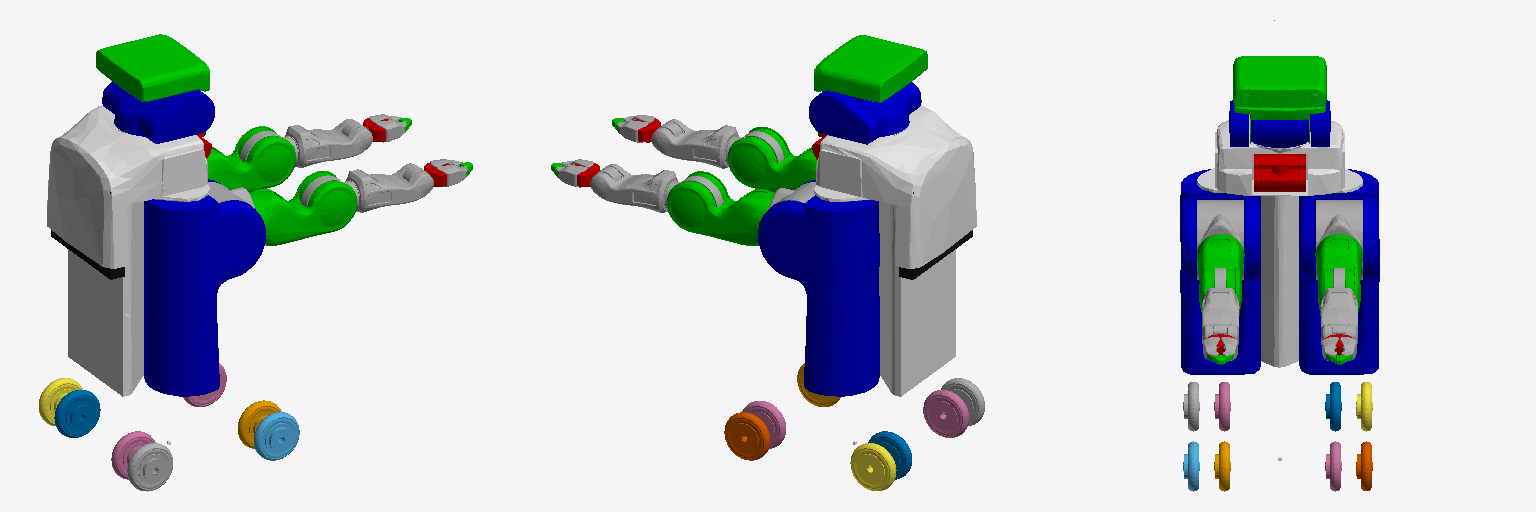
--- Facts derived from the render (not from the file) ---
Views: 3 orthographic renders of the robot side by side, from view 1: azimuth 30°, elevation 25°; view 2: azimuth 150°, elevation 25°; view 3: azimuth 270°, elevation 25°.
Model pr2 with 95 links and 94 joints (21 revolute, 19 continuous, 5 prismatic, 49 fixed), rooted at base_footprint, posed all joints at 0.
Links seen in each view (by area): view 1: torso_lift_link, r_shoulder_pan_link, head_tilt_link, r_upper_arm_link, head_pan_link, l_upper_arm_link, l_forearm_link, r_forearm_link, fr_caster_r_wheel_link, br_caster_r_wheel_link, bl_caster_r_wheel_link, bl_caster_l_wheel_link (+5 smaller); view 2: torso_lift_link, l_shoulder_pan_link, head_tilt_link, l_upper_arm_link, head_pan_link, r_upper_arm_link, l_forearm_link, r_forearm_link, fl_caster_l_wheel_link, br_caster_l_wheel_link, bl_caster_l_wheel_link, br_caster_r_wheel_link (+5 smaller); view 3: torso_lift_link, r_shoulder_pan_link, l_shoulder_pan_link, head_tilt_link, head_pan_link, r_upper_arm_link, l_upper_arm_link, laser_tilt_mount_link, l_shoulder_lift_link, r_shoulder_lift_link, l_forearm_link, r_forearm_link (+8 smaller).
Boxes of the visible links, box(x1,y1,x2,y2) form: torso_lift_link: box(47, 105, 209, 396); r_shoulder_pan_link: box(144, 179, 265, 396); head_tilt_link: box(96, 34, 209, 101); r_upper_arm_link: box(249, 171, 356, 245); head_pan_link: box(102, 81, 214, 143); l_upper_arm_link: box(207, 126, 295, 191); l_forearm_link: box(285, 119, 372, 167); r_forearm_link: box(346, 163, 433, 212); fr_caster_r_wheel_link: box(254, 412, 299, 460); br_caster_r_wheel_link: box(127, 443, 172, 491); bl_caster_r_wheel_link: box(54, 390, 100, 437); bl_caster_l_wheel_link: box(39, 378, 82, 425); torso_lift_link: box(814, 105, 976, 396); l_shoulder_pan_link: box(758, 180, 879, 396); head_tilt_link: box(814, 35, 927, 102); l_upper_arm_link: box(667, 171, 774, 245); head_pan_link: box(809, 82, 921, 144); r_upper_arm_link: box(728, 127, 816, 192); l_forearm_link: box(590, 164, 677, 212); r_forearm_link: box(651, 119, 738, 168); fl_caster_l_wheel_link: box(724, 412, 769, 460); br_caster_l_wheel_link: box(923, 390, 968, 437); bl_caster_l_wheel_link: box(850, 443, 896, 490); br_caster_r_wheel_link: box(941, 378, 984, 425); torso_lift_link: box(1197, 114, 1362, 367); r_shoulder_pan_link: box(1180, 169, 1260, 374); l_shoulder_pan_link: box(1299, 169, 1379, 374); head_tilt_link: box(1233, 56, 1326, 143); head_pan_link: box(1229, 100, 1330, 147); r_upper_arm_link: box(1197, 234, 1244, 315); l_upper_arm_link: box(1315, 234, 1362, 315); laser_tilt_mount_link: box(1254, 154, 1305, 191); l_shoulder_lift_link: box(1316, 200, 1362, 279); r_shoulder_lift_link: box(1197, 200, 1243, 279); l_forearm_link: box(1320, 288, 1357, 344); r_forearm_link: box(1202, 288, 1239, 344).
Bounding box of the posed robot: 1.31 × 0.6303 × 1.47 m (x, y, z).
Meshes: 20 distinct files referenced, 34 mesh visuals loaded (14 Collada DAE); not drawn: 12 (reference not matched to a file when rendering).

URDF robot description (pr2):
<?xml version="1.0" ?>
<!-- =================================================================================== -->
<!-- |    This document was autogenerated by xacro from pr2.urdf.xacro                 | -->
<!-- |    EDITING THIS FILE BY HAND IS NOT RECOMMENDED                                 | -->
<!-- =================================================================================== -->
<robot name="pr2" xmlns:controller="http://playerstage.sourceforge.net/gazebo/xmlschema/#controller" xmlns:interface="http://playerstage.sourceforge.net/gazebo/xmlschema/#interface" xmlns:joint="http://playerstage.sourceforge.net/gazebo/xmlschema/#slider" xmlns:sensor="http://playerstage.sourceforge.net/gazebo/xmlschema/#sensor" xmlns:xacro="http://ros.org/wiki/xacro">
  <!-- The following included files set up definitions of parts of the robot body -->
  <!-- misc common stuff? -->
  <!-- PR2 Arm -->
  <!-- PR2 gripper -->
  <!-- PR2 head -->
  <!-- PR2 tilting laser mount -->
  <!-- PR2 torso -->
  <!-- PR2 base -->
  <!-- Head sensors -->
  <!-- Camera sensors -->
  <!-- Texture projector -->
  <!-- generic simulator_gazebo plugins for starting mechanism control, ros time, ros battery -->
  <gazebo>
    <plugin filename="libgazebo_ros_controller_manager.so" name="gazebo_ros_controller_manager">
      <alwaysOn>true</alwaysOn>
      <updateRate>1000.0</updateRate>
    </plugin>
    <plugin filename="libgazebo_ros_power_monitor.so" name="gazebo_ros_power_monitor_controller">
      <alwaysOn>true</alwaysOn>
      <updateRate>1.0</updateRate>
      <timeout>5</timeout>
      <powerStateTopic>power_state</powerStateTopic>
      <powerStateRate>10.0</powerStateRate>
      <fullChargeCapacity>87.78</fullChargeCapacity>
      <dischargeRate>-474</dischargeRate>
      <chargeRate>525</chargeRate>
      <dischargeVoltage>15.52</dischargeVoltage>
      <chargeVoltage>16.41</chargeVoltage>
    </plugin>
  </gazebo>
  <!-- materials for visualization -->
  <material name="Blue">
    <color rgba="0.0 0.0 0.8 1.0"/>
  </material>
  <material name="Green">
    <color rgba="0.0 0.8 0.0 1.0"/>
  </material>
  <material name="Grey">
    <color rgba="0.7 0.7 0.7 1.0"/>
  </material>
  <material name="Grey2">
    <color rgba="0.9 0.9 0.9 1.0"/>
  </material>
  <material name="Red">
    <color rgba="0.8 0.0 0.0 1.0"/>
  </material>
  <material name="White">
    <color rgba="1.0 1.0 1.0 1.0"/>
  </material>
  <material name="Black">
    <color rgba="0.1 0.1 0.1 1.0"/>
  </material>
  <material name="LightGrey">
    <color rgba="0.6 0.6 0.6 1.0"/>
  </material>
  <material name="Caster">
    <texture filename="package://pr2_description/materials/textures/pr2_caster_texture.png"/>
  </material>
  <material name="Wheel_l">
    <texture filename="package://pr2_description/materials/textures/pr2_wheel_left.png"/>
  </material>
  <material name="Wheel_r">
    <texture filename="package://pr2_description/materials/textures/pr2_wheel_right.png"/>
  </material>
  <material name="RollLinks">
    <texture filename="package://pr2_description/materials/textures/pr2_wheel_left.png"/>
  </material>
  <!-- Now we can start using the macros included above to define the actual PR2 -->
  <!-- The first use of a macro.  This one was defined in base.urdf.xacro above.
       A macro like this will expand to a set of link and joint definitions, and to additional
       Gazebo-related extensions (sensor plugins, etc).  The macro takes an argument, name, 
       that equals "base", and uses it to generate names for its component links and joints 
       (e.g., base_link).  The included origin block is also an argument to the macro.  By convention, 
       the origin block defines where the component is w.r.t its parent (in this case the parent 
       is the world frame). For more, see http://www.ros.org/wiki/xacro -->
  <link name="base_link">
    <inertial>
      <mass value="116.0"/>
      <origin xyz="-0.061 0.0 0.1465"/>
      <inertia ixx="5.652232699207" ixy="-0.009719934438" ixz="1.293988226423" iyy="5.669473158652" iyz="-0.007379583694" izz="3.683196351726"/>
    </inertial>
    <visual>
      <origin rpy="0 0 0" xyz="0 0 0"/>
      <geometry>
        <mesh filename="package://pr2_description/meshes/base_v0/base.dae"/>
      </geometry>
      <material name="White"/>
    </visual>
    <collision>
      <origin rpy="0 0 0" xyz="0 0 0"/>
      <geometry>
        <mesh filename="package://pr2_description/meshes/base_v0/base_L.stl"/>
      </geometry>
    </collision>
  </link>
  <link name="base_footprint">
    <inertial>
      <mass value="1.0"/>
      <origin xyz="0 0 0"/>
      <inertia ixx="0.01" ixy="0.0" ixz="0.0" iyy="0.01" iyz="0.0" izz="0.01"/>
    </inertial>
    <visual>
      <origin rpy="0 0 0" xyz="0 0 0"/>
      <geometry>
        <box size="0.01 0.01 0.01"/>
      </geometry>
      <material name="White"/>
    </visual>
    <collision>
      <!-- represent base collision with a simple rectangular model, positioned by base_size_z s.t. top
             surface of the collision box matches the top surface of the PR2 base -->
      <origin rpy="0 0 0" xyz="0 0 0.071"/>
      <geometry>
        <box size="0.001 0.001 0.001"/>
      </geometry>
    </collision>
  </link>
  <joint name="base_footprint_joint" type="fixed">
    <origin rpy="0 0 0" xyz="0 0 0.051"/>
    <child link="base_link"/>
    <parent link="base_footprint"/>
  </joint>
  <link name="base_bellow_link">
    <inertial>
      <mass value="1.0"/>
      <origin xyz="0 0 0"/>
      <inertia ixx="0.01" ixy="0.0" ixz="0.0" iyy="0.01" iyz="0.0" izz="0.01"/>
    </inertial>
    <visual>
      <origin rpy="0 0 0" xyz="0 0 0"/>
      <geometry>
        <box size="0.05 0.37 0.3"/>
      </geometry>
      <material name="Black"/>
    </visual>
    <collision>
      <origin rpy="0 0 0" xyz="0 0 0"/>
      <geometry>
        <box size="0.05 0.37 0.3"/>
      </geometry>
    </collision>
  </link>
  <joint name="base_bellow_joint" type="fixed">
    <origin rpy="0 0 0" xyz="-0.29 0 0.8"/>
    <parent link="base_link"/>
    <child link="base_bellow_link"/>
  </joint>
  <joint name="base_laser_joint" type="fixed">
    <axis xyz="0 1 0"/>
    <origin rpy="0 0 0" xyz="0.275 0.0 0.252"/>
    <parent link="base_link"/>
    <child link="base_laser_link"/>
  </joint>
  <link name="base_laser_link" type="laser">
    <inertial>
      <mass value="0.001"/>
      <origin rpy="0 0 0" xyz="0 0 0"/>
      <inertia ixx="0.0001" ixy="0" ixz="0" iyy="0.000001" iyz="0" izz="0.0001"/>
    </inertial>
  </link>
  <gazebo reference="base_laser_link">
    <sensor name="base_laser" type="ray">
      <always_on>true</always_on>
      <update_rate>20</update_rate>
      <pose>0 0 0 0 0 0</pose>
      <visualize>false</visualize>
      <ray>
        <scan>
          <horizontal>
            <samples>640</samples>
            <resolution>1</resolution>
            <min_angle>-2.2689</min_angle>
            <max_angle>2.2689</max_angle>
          </horizontal>
        </scan>
        <range>
          <min>0.08</min>
          <max>10.0</max>
          <resolution>0.01</resolution>
        </range>
      </ray>
      <plugin filename="libgazebo_ros_laser.so" name="gazebo_ros_base_laser_controller">
        <gaussianNoise>0.005</gaussianNoise>
        <alwaysOn>true</alwaysOn>
        <updateRate>20</updateRate>
        <topicName>base_scan</topicName>
        <frameName>base_laser_link</frameName>
      </plugin>
    </sensor>
  </gazebo>
  <joint name="fl_caster_rotation_joint" type="continuous">
    <axis xyz="0 0 1"/>
    <limit effort="6.5" velocity="10"/>
    <!-- alpha tested velocity and effort limits -->
    <safety_controller k_velocity="10"/>
    <calibration rising="-0.785398163397"/>
    <dynamics damping="1.0" friction="0.0"/>
    <origin rpy="0 0 0" xyz="0.2246 0.2246 0.0282"/>
    <parent link="base_link"/>
    <child link="fl_caster_rotation_link"/>
  </joint>
  <link name="fl_caster_rotation_link">
    <inertial>
      <mass value="3.473082"/>
      <origin xyz="0 0 0.07"/>
      <inertia ixx="0.012411765597" ixy="-0.000711733678" ixz="0.00050272983" iyy="0.015218160428" iyz="-0.000004273467" izz="0.011763977943"/>
    </inertial>
    <visual>
      <origin rpy="0 0 0" xyz="0 0 0"/>
      <geometry>
        <mesh filename="package://pr2_description/meshes/base_v0/caster.stl"/>
      </geometry>
      <material name="Caster"/>
    </visual>
    <collision>
      <origin rpy="0 0 0" xyz="0 0 0"/>
      <geometry>
        <mesh filename="package://pr2_description/meshes/base_v0/caster_L.stl"/>
      </geometry>
    </collision>
  </link>
  <transmission name="fl_caster_rotation_trans" type="pr2_mechanism_model/SimpleTransmission">
    <actuator name="fl_caster_rotation_motor"/>
    <joint name="fl_caster_rotation_joint"/>
    <mechanicalReduction>-79.2380952381</mechanicalReduction>
  </transmission>
  <joint name="fl_caster_l_wheel_joint" type="continuous">
    <axis xyz="0 1 0"/>
    <limit effort="7" velocity="15"/>
    <!-- alpha tested effort and velocity limits -->
    <safety_controller k_velocity="10"/>
    <dynamics damping="1.0" friction="0.0"/>
    <origin rpy="0 0 0" xyz="0 0.049 0"/>
    <parent link="fl_caster_rotation_link"/>
    <child link="fl_caster_l_wheel_link"/>
  </joint>
  <link name="fl_caster_l_wheel_link">
    <inertial>
      <mass value="0.44036"/>
      <origin xyz="0 0 0"/>
      <inertia ixx="0.012411765597" ixy="-0.000711733678" ixz="0.00050272983" iyy="0.015218160428" iyz="-0.000004273467" izz="0.011763977943"/>
    </inertial>
    <visual>
      <origin rpy="0 0 0" xyz="0 0 0"/>
      <geometry>
        <mesh filename="package://pr2_description/meshes/base_v0/wheel.dae"/>
      </geometry>
      <material name="Wheel_l"/>
    </visual>
    <collision>
      <origin rpy="1.57079632679 0 0" xyz="0 0 0"/>
      <!-- rotation because cyl. geom primitive has symmetry axis in +x direction -->
      <geometry>
        <cylinder length="0.034" radius="0.074792"/>
      </geometry>
    </collision>
  </link>
  <gazebo reference="fl_caster_l_wheel_link">
    <mu1 value="100.0"/>
    <mu2 value="100.0"/>
    <kp value="1000000.0"/>
    <kd value="1.0"/>
    <maxVel value="100.0"/>
    <minDepth value="0.0"/>
  </gazebo>
  <transmission name="fl_caster_l_wheel_trans" type="pr2_mechanism_model/SimpleTransmission">
    <actuator name="fl_caster_l_wheel_motor"/>
    <joint name="fl_caster_l_wheel_joint"/>
    <mechanicalReduction>79.2380952381</mechanicalReduction>
  </transmission>
  <joint name="fl_caster_r_wheel_joint" type="continuous">
    <axis xyz="0 1 0"/>
    <limit effort="7" velocity="15"/>
    <!-- alpha tested effort and velocity limits -->
    <safety_controller k_velocity="10"/>
    <dynamics damping="1.0" friction="0.0"/>
    <origin rpy="0 0 0" xyz="0 -0.049 0"/>
    <parent link="fl_caster_rotation_link"/>
    <child link="fl_caster_r_wheel_link"/>
  </joint>
  <link name="fl_caster_r_wheel_link">
    <inertial>
      <mass value="0.44036"/>
      <origin xyz="0 0 0"/>
      <inertia ixx="0.012411765597" ixy="-0.000711733678" ixz="0.00050272983" iyy="0.015218160428" iyz="-0.000004273467" izz="0.011763977943"/>
    </inertial>
    <visual>
      <origin rpy="0 0 0" xyz="0 0 0"/>
      <geometry>
        <mesh filename="package://pr2_description/meshes/base_v0/wheel.dae"/>
      </geometry>
      <material name="Wheel_r"/>
    </visual>
    <collision>
      <origin rpy="1.57079632679 0 0" xyz="0 0 0"/>
      <!-- rotation because cyl. geom primitive has symmetry axis in +x direction -->
      <geometry>
        <cylinder length="0.034" radius="0.074792"/>
      </geometry>
    </collision>
  </link>
  <gazebo reference="fl_caster_r_wheel_link">
    <mu1 value="100.0"/>
    <mu2 value="100.0"/>
    <kp value="1000000.0"/>
    <kd value="1.0"/>
    <maxVel value="100.0"/>
    <minDepth value="0.0"/>
  </gazebo>
  <transmission name="fl_caster_r_wheel_trans" type="pr2_mechanism_model/SimpleTransmission">
    <actuator name="fl_caster_r_wheel_motor"/>
    <joint name="fl_caster_r_wheel_joint"/>
    <mechanicalReduction>-79.2380952381</mechanicalReduction>
  </transmission>
  <gazebo reference="fl_caster_rotation_link">
    <material value="PR2/caster_texture"/>
  </gazebo>
  <joint name="fr_caster_rotation_joint" type="continuous">
    <axis xyz="0 0 1"/>
    <limit effort="6.5" velocity="10"/>
    <!-- alpha tested velocity and effort limits -->
    <safety_controller k_velocity="10"/>
    <calibration rising="-0.785398163397"/>
    <dynamics damping="1.0" friction="0.0"/>
    <origin rpy="0 0 0" xyz="0.2246 -0.2246 0.0282"/>
    <parent link="base_link"/>
    <child link="fr_caster_rotation_link"/>
  </joint>
  <link name="fr_caster_rotation_link">
    <inertial>
      <mass value="3.473082"/>
      <origin xyz="0 0 0.07"/>
      <inertia ixx="0.012411765597" ixy="-0.000711733678" ixz="0.00050272983" iyy="0.015218160428" iyz="-0.000004273467" izz="0.011763977943"/>
    </inertial>
    <visual>
      <origin rpy="0 0 0" xyz="0 0 0"/>
      <geometry>
        <mesh filename="package://pr2_description/meshes/base_v0/caster.stl"/>
      </geometry>
      <material name="Caster"/>
    </visual>
    <collision>
      <origin rpy="0 0 0" xyz="0 0 0"/>
      <geometry>
        <mesh filename="package://pr2_description/meshes/base_v0/caster_L.stl"/>
      </geometry>
    </collision>
  </link>
  <transmission name="fr_caster_rotation_trans" type="pr2_mechanism_model/SimpleTransmission">
    <actuator name="fr_caster_rotation_motor"/>
    <joint name="fr_caster_rotation_joint"/>
    <mechanicalReduction>-79.2380952381</mechanicalReduction>
  </transmission>
  <joint name="fr_caster_l_wheel_joint" type="continuous">
    <axis xyz="0 1 0"/>
    <limit effort="7" velocity="15"/>
    <!-- alpha tested effort and velocity limits -->
    <safety_controller k_velocity="10"/>
    <dynamics damping="1.0" friction="0.0"/>
    <origin rpy="0 0 0" xyz="0 0.049 0"/>
    <parent link="fr_caster_rotation_link"/>
    <child link="fr_caster_l_wheel_link"/>
  </joint>
  <link name="fr_caster_l_wheel_link">
    <inertial>
      <mass value="0.44036"/>
      <origin xyz="0 0 0"/>
      <inertia ixx="0.012411765597" ixy="-0.000711733678" ixz="0.00050272983" iyy="0.015218160428" iyz="-0.000004273467" izz="0.011763977943"/>
    </inertial>
    <visual>
      <origin rpy="0 0 0" xyz="0 0 0"/>
      <geometry>
        <mesh filename="package://pr2_description/meshes/base_v0/wheel.dae"/>
      </geometry>
      <material name="Wheel_l"/>
    </visual>
    <collision>
      <origin rpy="1.57079632679 0 0" xyz="0 0 0"/>
      <!-- rotation because cyl. geom primitive has symmetry axis in +x direction -->
      <geometry>
        <cylinder length="0.034" radius="0.074792"/>
      </geometry>
    </collision>
  </link>
  <gazebo reference="fr_caster_l_wheel_link">
    <mu1 value="100.0"/>
    <mu2 value="100.0"/>
    <kp value="1000000.0"/>
    <kd value="1.0"/>
    <maxVel value="100.0"/>
    <minDepth value="0.0"/>
  </gazebo>
  <transmission name="fr_caster_l_wheel_trans" type="pr2_mechanism_model/SimpleTransmission">
    <actuator name="fr_caster_l_wheel_motor"/>
    <joint name="fr_caster_l_wheel_joint"/>
    <mechanicalReduction>79.2380952381</mechanicalReduction>
  </transmission>
  <joint name="fr_caster_r_wheel_joint" type="continuous">
    <axis xyz="0 1 0"/>
    <limit effort="7" velocity="15"/>
    <!-- alpha tested effort and velocity limits -->
    <safety_controller k_velocity="10"/>
    <dynamics damping="1.0" friction="0.0"/>
    <origin rpy="0 0 0" xyz="0 -0.049 0"/>
    <parent link="fr_caster_rotation_link"/>
    <child link="fr_caster_r_wheel_link"/>
  </joint>
  <link name="fr_caster_r_wheel_link">
    <inertial>
      <mass value="0.44036"/>
      <origin xyz="0 0 0"/>
      <inertia ixx="0.012411765597" ixy="-0.000711733678" ixz="0.00050272983" iyy="0.015218160428" iyz="-0.000004273467" izz="0.011763977943"/>
    </inertial>
    <visual>
      <origin rpy="0 0 0" xyz="0 0 0"/>
      <geometry>
        <mesh filename="package://pr2_description/meshes/base_v0/wheel.dae"/>
      </geometry>
      <material name="Wheel_r"/>
    </visual>
    <collision>
      <origin rpy="1.57079632679 0 0" xyz="0 0 0"/>
      <!-- rotation because cyl. geom primitive has symmetry axis in +x direction -->
      <geometry>
        <cylinder length="0.034" radius="0.074792"/>
      </geometry>
    </collision>
  </link>
  <gazebo reference="fr_caster_r_wheel_link">
    <mu1 value="100.0"/>
    <mu2 value="100.0"/>
    <kp value="1000000.0"/>
    <kd value="1.0"/>
    <maxVel value="100.0"/>
    <minDepth value="0.0"/>
  </gazebo>
  <transmission name="fr_caster_r_wheel_trans" type="pr2_mechanism_model/SimpleTransmission">
    <actuator name="fr_caster_r_wheel_motor"/>
    <joint name="fr_caster_r_wheel_joint"/>
    <mechanicalReduction>-79.2380952381</mechanicalReduction>
  </transmission>
  <gazebo reference="fr_caster_rotation_link">
    <material value="PR2/caster_texture"/>
  </gazebo>
  <joint name="bl_caster_rotation_joint" type="continuous">
    <axis xyz="0 0 1"/>
    <limit effort="6.5" velocity="10"/>
    <!-- alpha tested velocity and effort limits -->
    <safety_controller k_velocity="10"/>
    <calibration rising="2.35619449019"/>
    <dynamics damping="1.0" friction="0.0"/>
    <origin rpy="0 0 0" xyz="-0.2246 0.2246 0.0282"/>
    <parent link="base_link"/>
    <child link="bl_caster_rotation_link"/>
  </joint>
  <link name="bl_caster_rotation_link">
    <inertial>
      <mass value="3.473082"/>
      <origin xyz="0 0 0.07"/>
      <inertia ixx="0.012411765597" ixy="-0.000711733678" ixz="0.00050272983" iyy="0.015218160428" iyz="-0.000004273467" izz="0.011763977943"/>
    </inertial>
    <visual>
      <origin rpy="0 0 0" xyz="0 0 0"/>
      <geometry>
        <mesh filename="package://pr2_description/meshes/base_v0/caster.stl"/>
      </geometry>
      <material name="Caster"/>
    </visual>
    <collision>
      <origin rpy="0 0 0" xyz="0 0 0"/>
      <geometry>
        <mesh filename="package://pr2_description/meshes/base_v0/caster_L.stl"/>
      </geometry>
    </collision>
  </link>
  <transmission name="bl_caster_rotation_trans" type="pr2_mechanism_model/SimpleTransmission">
    <actuator name="bl_caster_rotation_motor"/>
    <joint name="bl_caster_rotation_joint"/>
    <mechanicalReduction>-79.2380952381</mechanicalReduction>
  </transmission>
  <joint name="bl_caster_l_wheel_joint" type="continuous">
    <axis xyz="0 1 0"/>
    <limit effort="7" velocity="15"/>
    <!-- alpha tested effort and velocity limits -->
    <safety_controller k_velocity="10"/>
    <dynamics damping="1.0" friction="0.0"/>
    <origin rpy="0 0 0" xyz="0 0.049 0"/>
    <parent link="bl_caster_rotation_link"/>
    <child link="bl_caster_l_wheel_link"/>
  </joint>
  <link name="bl_caster_l_wheel_link">
    <inertial>
      <mass value="0.44036"/>
      <origin xyz="0 0 0"/>
      <inertia ixx="0.012411765597" ixy="-0.000711733678" ixz="0.00050272983" iyy="0.015218160428" iyz="-0.000004273467" izz="0.011763977943"/>
    </inertial>
    <visual>
      <origin rpy="0 0 0" xyz="0 0 0"/>
      <geometry>
        <mesh filename="package://pr2_description/meshes/base_v0/wheel.dae"/>
      </geometry>
      <material name="Wheel_l"/>
    </visual>
    <collision>
      <origin rpy="1.57079632679 0 0" xyz="0 0 0"/>
      <!-- rotation because cyl. geom primitive has symmetry axis in +x direction -->
      <geometry>
        <cylinder length="0.034" radius="0.074792"/>
      </geometry>
    </collision>
  </link>
  <gazebo reference="bl_caster_l_wheel_link">
    <mu1 value="100.0"/>
    <mu2 value="100.0"/>
    <kp value="1000000.0"/>
    <kd value="1.0"/>
    <maxVel value="100.0"/>
    <minDepth value="0.0"/>
  </gazebo>
  <transmission name="bl_caster_l_wheel_trans" type="pr2_mechanism_model/SimpleTransmission">
    <actuator name="bl_caster_l_wheel_motor"/>
    <joint name="bl_caster_l_wheel_joint"/>
    <mechanicalReduction>79.2380952381</mechanicalReduction>
  </transmission>
  <joint name="bl_caster_r_wheel_joint" type="continuous">
    <axis xyz="0 1 0"/>
    <limit effort="7" velocity="15"/>
    <!-- alpha tested effort and velocity limits -->
    <safety_controller k_velocity="10"/>
    <dynamics damping="1.0" friction="0.0"/>
    <origin rpy="0 0 0" xyz="0 -0.049 0"/>
    <parent link="bl_caster_rotation_link"/>
    <child link="bl_caster_r_wheel_link"/>
  </joint>
  <link name="bl_caster_r_wheel_link">
    <inertial>
      <mass value="0.44036"/>
      <origin xyz="0 0 0"/>
      <inertia ixx="0.012411765597" ixy="-0.000711733678" ixz="0.00050272983" iyy="0.015218160428" iyz="-0.000004273467" izz="0.011763977943"/>
    </inertial>
    <visual>
      <origin rpy="0 0 0" xyz="0 0 0"/>
      <geometry>
        <mesh filename="package://pr2_description/meshes/base_v0/wheel.dae"/>
      </geometry>
      <material name="Wheel_r"/>
    </visual>
    <collision>
      <origin rpy="1.57079632679 0 0" xyz="0 0 0"/>
      <!-- rotation because cyl. geom primitive has symmetry axis in +x direction -->
      <geometry>
        <cylinder length="0.034" radius="0.074792"/>
      </geometry>
    </collision>
  </link>
  <gazebo reference="bl_caster_r_wheel_link">
    <mu1 value="100.0"/>
    <mu2 value="100.0"/>
    <kp value="1000000.0"/>
    <kd value="1.0"/>
    <maxVel value="100.0"/>
    <minDepth value="0.0"/>
  </gazebo>
  <transmission name="bl_caster_r_wheel_trans" type="pr2_mechanism_model/SimpleTransmission">
    <actuator name="bl_caster_r_wheel_motor"/>
    <joint name="bl_caster_r_wheel_joint"/>
    <mechanicalReduction>-79.2380952381</mechanicalReduction>
  </transmission>
  <gazebo reference="bl_caster_rotation_link">
    <material value="PR2/caster_texture"/>
  </gazebo>
  <joint name="br_caster_rotation_joint" type="continuous">
    <axis xyz="0 0 1"/>
    <limit effort="6.5" velocity="10"/>
    <!-- alpha tested velocity and effort limits -->
    <safety_controller k_velocity="10"/>
    <calibration rising="2.35619449019"/>
    <dynamics damping="1.0" friction="0.0"/>
    <origin rpy="0 0 0" xyz="-0.2246 -0.2246 0.0282"/>
    <parent link="base_link"/>
    <child link="br_caster_rotation_link"/>
  </joint>
  <link name="br_caster_rotation_link">
    <inertial>
      <mass value="3.473082"/>
      <origin xyz="0 0 0.07"/>
      <inertia ixx="0.012411765597" ixy="-0.000711733678" ixz="0.00050272983" iyy="0.015218160428" iyz="-0.000004273467" izz="0.011763977943"/>
    </inertial>
    <visual>
      <origin rpy="0 0 0" xyz="0 0 0"/>
      <geometry>
        <mesh filename="package://pr2_description/meshes/base_v0/caster.stl"/>
      </geometry>
      <material name="Caster"/>
    </visual>
    <collision>
      <origin rpy="0 0 0" xyz="0 0 0"/>
      <geometry>
        <mesh filename="package://pr2_description/meshes/base_v0/caster_L.stl"/>
      </geometry>
    </collision>
  </link>
  <transmission name="br_caster_rotation_trans" type="pr2_mechanism_model/SimpleTransmission">
    <actuator name="br_caster_rotation_motor"/>
    <joint name="br_caster_rotation_joint"/>
    <mechanicalReduction>-79.2380952381</mechanicalReduction>
  </transmission>
  <joint name="br_caster_l_wheel_joint" type="continuous">
    <axis xyz="0 1 0"/>
    <limit effort="7" velocity="15"/>
    <!-- alpha tested effort and velocity limits -->
    <safety_controller k_velocity="10"/>
    <dynamics damping="1.0" friction="0.0"/>
    <origin rpy="0 0 0" xyz="0 0.049 0"/>
    <parent link="br_caster_rotation_link"/>
    <child link="br_caster_l_wheel_link"/>
  </joint>
  <link name="br_caster_l_wheel_link">
    <inertial>
      <mass value="0.44036"/>
      <origin xyz="0 0 0"/>
      <inertia ixx="0.012411765597" ixy="-0.000711733678" ixz="0.00050272983" iyy="0.015218160428" iyz="-0.000004273467" izz="0.011763977943"/>
    </inertial>
    <visual>
      <origin rpy="0 0 0" xyz="0 0 0"/>
      <geometry>
        <mesh filename="package://pr2_description/meshes/base_v0/wheel.dae"/>
      </geometry>
      <material name="Wheel_l"/>
    </visual>
    <collision>
      <origin rpy="1.57079632679 0 0" xyz="0 0 0"/>
      <!-- rotation because cyl. geom primitive has symmetry axis in +x direction -->
      <geometry>
        <cylinder length="0.034" radius="0.074792"/>
      </geometry>
    </collision>
  </link>
  <gazebo reference="br_caster_l_wheel_link">
    <mu1 value="100.0"/>
    <mu2 value="100.0"/>
    <kp value="1000000.0"/>
    <kd value="1.0"/>
    <maxVel value="100.0"/>
    <minDepth value="0.0"/>
  </gazebo>
  <transmission name="br_caster_l_wheel_trans" type="pr2_mechanism_model/SimpleTransmission">
    <actuator name="br_caster_l_wheel_motor"/>
    <joint name="br_caster_l_wheel_joint"/>
    <mechanicalReduction>79.2380952381</mechanicalReduction>
  </transmission>
  <joint name="br_caster_r_wheel_joint" type="continuous">
    <axis xyz="0 1 0"/>
    <limit effort="7" velocity="15"/>
    <!-- alpha tested effort and velocity limits -->
    <safety_controller k_velocity="10"/>
    <dynamics damping="1.0" friction="0.0"/>
    <origin rpy="0 0 0" xyz="0 -0.049 0"/>
    <parent link="br_caster_rotation_link"/>
    <child link="br_caster_r_wheel_link"/>
  </joint>
  <link name="br_caster_r_wheel_link">
    <inertial>
      <mass value="0.44036"/>
      <origin xyz="0 0 0"/>
      <inertia ixx="0.012411765597" ixy="-0.000711733678" ixz="0.00050272983" iyy="0.015218160428" iyz="-0.000004273467" izz="0.011763977943"/>
    </inertial>
    <visual>
      <origin rpy="0 0 0" xyz="0 0 0"/>
      <geometry>
        <mesh filename="package://pr2_description/meshes/base_v0/wheel.dae"/>
      </geometry>
      <material name="Wheel_r"/>
    </visual>
    <collision>
      <origin rpy="1.57079632679 0 0" xyz="0 0 0"/>
      <!-- rotation because cyl. geom primitive has symmetry axis in +x direction -->
      <geometry>
        <cylinder length="0.034" radius="0.074792"/>
      </geometry>
    </collision>
  </link>
  <gazebo reference="br_caster_r_wheel_link">
    <mu1 value="100.0"/>
    <mu2 value="100.0"/>
    <kp value="1000000.0"/>
    <kd value="1.0"/>
    <maxVel value="100.0"/>
    <minDepth value="0.0"/>
  </gazebo>
  <transmission name="br_caster_r_wheel_trans" type="pr2_mechanism_model/SimpleTransmission">
    <actuator name="br_caster_r_wheel_motor"/>
    <joint name="br_caster_r_wheel_joint"/>
    <mechanicalReduction>-79.2380952381</mechanicalReduction>
  </transmission>
  <gazebo reference="br_caster_rotation_link">
    <material value="PR2/caster_texture"/>
  </gazebo>
  <gazebo reference="base_link">
    <selfCollide>false</selfCollide>
    <sensor name="base_contact_sensor" type="contact">
      <always_on>true</always_on>
      <update_rate>100.0</update_rate>
      <contact>
        <collision>base_link_geom</collision>
      </contact>
      <plugin filename="libgazebo_ros_bumper.so" name="base_gazebo_ros_bumper_controller">
        <alwaysOn>true</alwaysOn>
        <updateRate>100.0</updateRate>
        <bumperTopicName>base_bumper</bumperTopicName>
      </plugin>
    </sensor>
  </gazebo>
  <gazebo reference="base_bellow_link">
    <material value="PR2/Black"/>
  </gazebo>
  <gazebo>
    <plugin filename="libgazebo_ros_p3d.so" name="p3d_base_controller">
      <alwaysOn>true</alwaysOn>
      <updateRate>100.0</updateRate>
      <bodyName>base_link</bodyName>
      <topicName>base_pose_ground_truth</topicName>
      <gaussianNoise>0.01</gaussianNoise>
      <frameName>map</frameName>
      <xyzOffsets>0 0 0</xyzOffsets>
      <rpyOffsets>0 0 0</rpyOffsets>
    </plugin>
    <canonicalBody>base_footprint</canonicalBody>
  </gazebo>
  <joint name="torso_lift_joint" type="prismatic">
    <axis xyz="0 0 1"/>
    <limit effort="10000" lower="0.0" upper="0.33" velocity="0.013"/>
    <!-- alpha tested velocity and effort limits -->
    <safety_controller k_position="100" k_velocity="2000000" soft_lower_limit="0.0115" soft_upper_limit="0.325"/>
    <calibration falling="0.00475"/>
    <dynamics damping="20000.0"/>
    <origin rpy="0 0 0" xyz="-0.05 0 0.739675"/>
    <parent link="base_link"/>
    <child link="torso_lift_link"/>
  </joint>
  <link name="torso_lift_link">
    <inertial>
      <mass value="36.248046"/>
      <origin xyz="-0.1 0 -0.0885"/>
      <inertia ixx="2.771653750257" ixy="0.004284522609" ixz="-0.160418504506" iyy="2.510019507959" iyz="0.029664468704" izz="0.526432355569"/>
    </inertial>
    <visual>
      <origin rpy="0 0 0" xyz="0 0 0"/>
      <geometry>
        <mesh filename="package://pr2_description/meshes/torso_v0/torso_lift.dae"/>
      </geometry>
      <material name="Grey2"/>
    </visual>
    <collision name="torso_lift_collision">
      <origin rpy="0 0 0" xyz="0 0 0"/>
      <geometry>
        <mesh filename="package://pr2_description/meshes/torso_v0/torso_lift_L.stl"/>
      </geometry>
    </collision>
  </link>
  <joint name="l_torso_lift_side_plate_joint" type="fixed">
    <origin xyz="0.0535 0.209285 0.176625"/>
    <!-- location of bottom front bolt hole location -->
    <parent link="torso_lift_link"/>
    <child link="l_torso_lift_side_plate_link"/>
  </joint>
  <link name="l_torso_lift_side_plate_link">
    <inertial>
      <mass value="0.1"/>
      <origin xyz="-0.0625 0.0 0.05"/>
      <!-- center of the 12.5cm by 10cm bolt hole pattern -->
      <inertia ixx="0.001" ixy="0.0" ixz="0.0" iyy="0.001" iyz="0.0" izz="0.001"/>
    </inertial>
  </link>
  <joint name="r_torso_lift_side_plate_joint" type="fixed">
    <origin xyz="0.0535  -0.209285 0.176625"/>
    <!-- location of bottom front bolt hole location -->
    <parent link="torso_lift_link"/>
    <child link="r_torso_lift_side_plate_link"/>
  </joint>
  <link name="r_torso_lift_side_plate_link">
    <inertial>
      <mass value="0.1"/>
      <origin xyz="-0.0625 0.0 0.05"/>
      <!-- center of the 12.5cm by 10cm bolt hole pattern -->
      <inertia ixx="0.001" ixy="0.0" ixz="0.0" iyy="0.001" iyz="0.0" izz="0.001"/>
    </inertial>
  </link>
  <link name="torso_lift_motor_screw_link">
    <inertial>
      <mass value="1.0"/>
      <origin rpy="0 0 0" xyz="0 0 0"/>
      <inertia ixx="0.001" ixy="0.0" ixz="0.0" iyy="0.001" iyz="0.0" izz="0.001"/>
    </inertial>
    <!-- for debugging only
      <visual>
        <origin xyz="0 0 0" rpy="0 0 0" />
        <geometry>
          <box size="0.5 0.7 0.01" />
        </geometry>
      </visual>
      <collision>
        <origin xyz="0 0 0" rpy="0 0 0" />
        <geometry>
          <box size="0.5 0.7 0.01" />
        </geometry>
      </collision>
      -->
  </link>
  <joint name="torso_lift_motor_screw_joint" type="continuous">
    <origin xyz="-0.15 0.0 0.7"/>
    <axis xyz="0 0 1"/>
    <parent link="base_link"/>
    <child link="torso_lift_motor_screw_link"/>
    <dynamics damping="0.0001"/>
  </joint>
  <gazebo reference="torso_lift_link">
    <sensor name="torso_lift_contact_sensor" type="contact">
      <contact>
        <collision>torso_lift_link_geom</collision>
      </contact>
      <update_rate>100.0</update_rate>
      <plugin filename="libgazebo_ros_bumper.so" name="torso_lift_gazebo_ros_bumper_controller">
        <alwaysOn>true</alwaysOn>
        <updateRate>100.0</updateRate>
        <bumperTopicName>torso_lift_bumper</bumperTopicName>
      </plugin>
    </sensor>
  </gazebo>
  <gazebo>
    <joint name="torso_lift_screw_torso_lift_joint" type="screw">
      <parent>torso_lift_link</parent>
      <child>torso_lift_motor_screw_link</child>
      <axis>
        <xyz>0 0 1</xyz>
      </axis>
      <thread_pitch>3141.6</thread_pitch>
    </joint>
  </gazebo>
  <transmission name="torso_lift_trans" type="pr2_mechanism_model/SimpleTransmission">
    <actuator name="torso_lift_motor"/>
    <joint name="torso_lift_joint"/>
    <mechanicalReduction>-47641.53</mechanicalReduction>
    <simulated_actuated_joint name="torso_lift_motor_screw_joint" simulated_reduction="3141.6"/>
  </transmission>
  <joint name="imu_joint" type="fixed">
    <axis xyz="0 1 0"/>
    <origin rpy="0 3.14159265359 0" xyz="-0.02977 -0.1497 0.164"/>
    <parent link="torso_lift_link"/>
    <child link="imu_link"/>
  </joint>
  <link name="imu_link">
    <inertial>
      <mass value="0.001"/>
      <origin rpy="0 0 0" xyz="0 0 0"/>
      <inertia ixx="0.0001" ixy="0" ixz="0" iyy="0.000001" iyz="0" izz="0.0001"/>
    </inertial>
  </link>
  <gazebo>
    <plugin filename="libgazebo_ros_imu.so" name="imu_controller">
      <alwaysOn>true</alwaysOn>
      <updateRate>100.0</updateRate>
      <bodyName>imu_link</bodyName>
      <topicName>torso_lift_imu/data</topicName>
      <gaussianNoise>2.89e-08</gaussianNoise>
      <xyzOffset>0 0 0</xyzOffset>
      <rpyOffset>0 -180.0 0</rpyOffset>
    </plugin>
  </gazebo>
  <!-- The xacro preprocesser will replace the parameters below, such as ${cal_head_x}, with
       numerical values that were specified in common.xacro which was included above -->
  <joint name="head_pan_joint" type="revolute">
    <axis xyz="0 0 1"/>
    <limit effort="2.645" lower="-3.007" upper="3.007" velocity="6"/>
    <!-- alpha tested velocity and effort limits -->
    <safety_controller k_position="100" k_velocity="1.5" soft_lower_limit="-2.857" soft_upper_limit="2.857"/>
    <calibration rising="0.0"/>
    <dynamics damping="0.5"/>
    <origin rpy="0.0 0.0 0.0" xyz="-0.01707 0.0 0.38145"/>
    <parent link="torso_lift_link"/>
    <child link="head_pan_link"/>
  </joint>
  <link name="head_pan_link">
    <inertial>
      <mass value="6.339"/>
      <!-- mass/cog/moi updated per 100505_link_data.xls -->
      <origin rpy="0 0 0" xyz="0.010907 0.031693 0.090507"/>
      <inertia ixx="0.032497592" ixy="0.00063604088" ixz="0.0025851534" iyy="0.046545627" iyz="-0.0024534295" izz="0.057652724"/>
    </inertial>
    <visual>
      <origin rpy="0 0 0 " xyz="0 0 0.0"/>
      <geometry>
        <mesh filename="package://pr2_description/meshes/head_v0/head_pan.dae"/>
      </geometry>
      <material name="Blue"/>
    </visual>
    <collision>
      <geometry>
        <mesh filename="package://pr2_description/meshes/head_v0/head_pan_L.stl"/>
      </geometry>
    </collision>
  </link>
  <transmission name="head_pan_trans" type="pr2_mechanism_model/SimpleTransmission">
    <actuator name="head_pan_motor"/>
    <joint name="head_pan_joint"/>
    <mechanicalReduction>6.0</mechanicalReduction>
  </transmission>
  <joint name="head_tilt_joint" type="revolute">
    <axis xyz="0 1 0"/>
    <limit effort="18" lower="-0.471238" upper="1.39626" velocity="5"/>
    <!-- alpha tested velocity and effort limits -->
    <safety_controller k_position="100" k_velocity="3.0" soft_lower_limit="-0.3712" soft_upper_limit="1.29626"/>
    <calibration falling="0.0"/>
    <dynamics damping="10.0"/>
    <origin rpy="0 0 0" xyz="0.068 0 0"/>
    <parent link="head_pan_link"/>
    <child link="head_tilt_link"/>
  </joint>
  <link name="head_tilt_link">
    <inertial>
      <mass value="4.479"/>
      <!-- mass/cog/moi updated per 100505_link_data.xls -->
      <origin rpy="0 0 0" xyz="0.001716 -0.019556 0.055002"/>
      <inertia ixx="0.024223222" ixy="0.00062063507" ixz="-0.000096909696" iyy="0.054723086" iyz="0.00279702400" izz="0.067306377"/>
    </inertial>
    <visual>
      <origin rpy="0.0 0.0 0.0" xyz="0 0 0"/>
      <geometry>
        <mesh filename="package://pr2_description/meshes/head_v0/head_tilt.dae"/>
      </geometry>
      <material name="Green"/>
    </visual>
    <collision>
      <origin rpy="0.0 0.0 0.0" xyz="0 0 0"/>
      <geometry>
        <mesh filename="package://pr2_description/meshes/head_v0/head_tilt_L.stl"/>
      </geometry>
    </collision>
  </link>
  <transmission name="head_tilt_trans" type="pr2_mechanism_model/SimpleTransmission">
    <actuator name="head_tilt_motor"/>
    <joint name="head_tilt_joint"/>
    <mechanicalReduction>6.0</mechanicalReduction>
  </transmission>
  <joint name="head_plate_frame_joint" type="fixed">
    <origin rpy="0 0 0" xyz="0.0232 0 0.0645"/>
    <parent link="head_tilt_link"/>
    <child link="head_plate_frame"/>
  </joint>
  <link name="head_plate_frame">
    <inertial>
      <mass value="0.01"/>
      <origin rpy="0 0 0" xyz="0 0 0"/>
      <inertia ixx="0.001" ixy="0.0" ixz="0.0" iyy="0.001" iyz="0.0" izz="0.001"/>
    </inertial>
    <visual>
      <origin rpy="0 0 0" xyz="0 0 0"/>
      <geometry>
        <box size="0.01 0.01 0.01"/>
      </geometry>
      <material name="Blue"/>
    </visual>
    <collision>
      <origin rpy="0 0 0" xyz="0 0 0"/>
      <geometry>
        <box size="0.01 0.01 0.01"/>
      </geometry>
    </collision>
  </link>
  <gazebo reference="head_plate_frame">
    <material value="Gazebo/Grey"/>
  </gazebo>
  <!-- Camera package: double stereo, prosilica -->
  <joint name="sensor_mount_frame_joint" type="fixed">
    <origin rpy="0 0 0" xyz="0.0 0.0 0.0"/>
    <parent link="head_plate_frame"/>
    <child link="sensor_mount_link"/>
  </joint>
  <link name="sensor_mount_link">
    <inertial>
      <!-- Needs verification with CAD -->
      <mass value="0.05"/>
      <origin rpy="0 0 0" xyz="0 0 0"/>
      <inertia ixx="0.001" ixy="0.0" ixz="0.0" iyy="0.001" iyz="0.0" izz="0.01"/>
    </inertial>
    <!-- Should probably get real visuals here at some point -->
    <visual>
      <origin rpy="0 0 0" xyz="0 0 0"/>
      <geometry>
        <box size="0.01 0.01 0.01"/>
      </geometry>
      <material name="Blue"/>
    </visual>
  </link>
  <joint name="high_def_frame_joint" type="fixed">
    <origin rpy="0 0 0" xyz="0.046457 -0.110 0.054600"/>
    <parent link="sensor_mount_link"/>
    <child link="high_def_frame"/>
  </joint>
  <link name="high_def_frame">
    <inertial>
      <mass value="0.01"/>
      <origin rpy="0 0 0" xyz="0 0 0"/>
      <inertia ixx="0.001" ixy="0.0" ixz="0.0" iyy="0.001" iyz="0.0" izz="0.001"/>
    </inertial>
  </link>
  <joint name="high_def_optical_frame_joint" type="fixed">
    <origin rpy="-1.57079632679 0.0 -1.57079632679" xyz="0.0            0.0         0.0"/>
    <parent link="high_def_frame"/>
    <child link="high_def_optical_frame"/>
  </joint>
  <link name="high_def_optical_frame">
    <inertial>
      <mass value="0.01"/>
      <origin rpy="0 0 0" xyz="0 0 0"/>
      <inertia ixx="0.001" ixy="0.0" ixz="0.0" iyy="0.001" iyz="0.0" izz="0.001"/>
    </inertial>
  </link>
  <gazebo reference="high_def_frame">
    <sensor name="high_def_sensor" type="depth">
      <always_on>true</always_on>
      <update_rate>20.0</update_rate>
      <camera>
        <horizontal_fov>0.785398163397</horizontal_fov>
        <image>
          <format>R8G8B8</format>
          <width>2448</width>
          <height>2050</height>
        </image>
        <clip>
          <near>0.1</near>
          <far>100</far>
        </clip>
      </camera>
      <plugin filename="libgazebo_ros_prosilica.so" name="high_def_controller">
        <updateRate>20.0</updateRate>
        <cameraName>prosilica</cameraName>
        <imageTopicName>image_raw</imageTopicName>
        <cameraInfoTopicName>camera_info</cameraInfoTopicName>
        <pollServiceName>request_image</pollServiceName>
        <frameName>high_def_optical_frame</frameName>
        <CxPrime>1224.5</CxPrime>
        <Cx>1224.5</Cx>
        <Cy>1025.5</Cy>
        <focalLength>2955</focalLength>
        <distortionK1>0.0</distortionK1>
        <distortionK2>0.0</distortionK2>
        <distortionK3>0.0</distortionK3>
        <distortionT1>0.0</distortionT1>
        <distortionT2>0.0</distortionT2>
      </plugin>
    </sensor>
    <material value="Gazebo/Black"/>
  </gazebo>
  <joint name="double_stereo_frame_joint" type="fixed">
    <origin rpy="0 0 0" xyz="0.0 0.0 0.0"/>
    <parent link="sensor_mount_link"/>
    <child link="double_stereo_link"/>
  </joint>
  <link name="double_stereo_link">
    <inertial>
      <!-- Needs verification with CAD -->
      <mass value="0.1"/>
      <origin rpy="0 0 0" xyz="0 0 0"/>
      <inertia ixx="0.001" ixy="0.0" ixz="0.0" iyy="0.001" iyz="0.0" izz="0.01"/>
    </inertial>
    <!-- Should probably get real visuals here at some point -->
    <visual>
      <origin rpy="0 0 0" xyz="-0.01 0 0.025"/>
      <geometry>
        <box size="0.02 0.12 0.05"/>
      </geometry>
      <material name="Blue"/>
    </visual>
  </link>
  <joint name="wide_stereo_frame_joint" type="fixed">
    <origin rpy="0.0   0.0   0.0" xyz="0.045 0.03 0.0501"/>
    <parent link="double_stereo_link"/>
    <child link="wide_stereo_link"/>
  </joint>
  <link name="wide_stereo_link">
    <inertial>
      <mass value="0.1"/>
      <origin rpy="0 0 0" xyz="0 0 0"/>
      <inertia ixx="0.01" ixy="0" ixz="0" iyy="0.01" iyz="0" izz="0.01"/>
      <!-- this inertia is made up for now. -->
    </inertial>
  </link>
  <joint name="wide_stereo_optical_frame_joint" type="fixed">
    <origin rpy="-1.57079632679 0.0 -1.57079632679" xyz="0 0 0"/>
    <!-- rotate frame from x-forward to z-forward camera coords -->
    <parent link="wide_stereo_link"/>
    <child link="wide_stereo_optical_frame"/>
  </joint>
  <link name="wide_stereo_optical_frame" type="camera"/>
  <joint name="wide_stereo_l_stereo_camera_frame_joint" type="fixed">
    <origin rpy="0 0 0" xyz="0 0 0"/>
    <parent link="wide_stereo_link"/>
    <child link="wide_stereo_l_stereo_camera_frame"/>
  </joint>
  <link name="wide_stereo_l_stereo_camera_frame">
    <inertial>
      <mass value="0.01"/>
      <origin xyz="0 0 0"/>
      <inertia ixx="0.001" ixy="0.0" ixz="0.0" iyy="0.001" iyz="0.0" izz="0.001"/>
    </inertial>
  </link>
  <joint name="wide_stereo_l_stereo_camera_optical_frame_joint" type="fixed">
    <origin rpy="-1.57079632679 0.0 -1.57079632679" xyz="0 0 0"/>
    <parent link="wide_stereo_l_stereo_camera_frame"/>
    <child link="wide_stereo_l_stereo_camera_optical_frame"/>
  </joint>
  <link name="wide_stereo_l_stereo_camera_optical_frame"/>
  <gazebo reference="wide_stereo_l_stereo_camera_frame">
    <sensor name="wide_stereo_l_stereo_camera_sensor" type="depth">
      <always_on>true</always_on>
      <update_rate>25.0</update_rate>
      <camera>
        <horizontal_fov>1.57079632679</horizontal_fov>
        <image>
          <format>BAYER_BGGR8</format>
          <width>640</width>
          <height>480</height>
        </image>
        <clip>
          <near>0.1</near>
          <far>100</far>
        </clip>
      </camera>
      <plugin filename="libgazebo_ros_depth_camera.so" name="wide_stereo_l_stereo_camera_controller">
        <alwaysOn>true</alwaysOn>
        <updateRate>25.0</updateRate>
        <cameraName>wide_stereo/left</cameraName>
        <imageTopicName>image_raw</imageTopicName>
        <cameraInfoTopicName>camera_info</cameraInfoTopicName>
        <frameName>wide_stereo_optical_frame</frameName>
        <hackBaseline>0</hackBaseline>
        <CxPrime>320.5</CxPrime>
        <Cx>320.5</Cx>
        <Cy>240.5</Cy>
        <!-- image_width / (2*tan(hfov_radian /2)) -->
        <!-- 320 for wide and 772.55 for narrow stereo camera -->
        <focalLength>320</focalLength>
        <distortionK1>0.0</distortionK1>
        <distortionK2>0.0</distortionK2>
        <distortionK3>0.0</distortionK3>
        <distortionT1>0.0</distortionT1>
        <distortionT2>0.0</distortionT2>
      </plugin>
    </sensor>
    <turnGravityOff>true</turnGravityOff>
    <material>PR2/Blue</material>
  </gazebo>
  <joint name="wide_stereo_r_stereo_camera_frame_joint" type="fixed">
    <origin rpy="0.0 0.0 0.0" xyz="0.0 -0.09 0.0"/>
    <parent link="wide_stereo_l_stereo_camera_frame"/>
    <child link="wide_stereo_r_stereo_camera_frame"/>
  </joint>
  <link name="wide_stereo_r_stereo_camera_frame">
    <inertial>
      <mass value="0.01"/>
      <origin xyz="0 0 0"/>
      <inertia ixx="0.001" ixy="0.0" ixz="0.0" iyy="0.001" iyz="0.0" izz="0.001"/>
    </inertial>
  </link>
  <joint name="wide_stereo_r_stereo_camera_optical_frame_joint" type="fixed">
    <origin rpy="-1.57079632679 0.0 -1.57079632679" xyz="0 0 0"/>
    <parent link="wide_stereo_r_stereo_camera_frame"/>
    <child link="wide_stereo_r_stereo_camera_optical_frame"/>
  </joint>
  <link name="wide_stereo_r_stereo_camera_optical_frame"/>
  <gazebo reference="wide_stereo_r_stereo_camera_frame">
    <sensor name="wide_stereo_r_stereo_camera_sensor" type="depth">
      <always_on>true</always_on>
      <update_rate>25.0</update_rate>
      <camera>
        <horizontal_fov>1.57079632679</horizontal_fov>
        <image>
          <format>BAYER_BGGR8</format>
          <width>640</width>
          <height>480</height>
        </image>
        <clip>
          <near>0.1</near>
          <far>100</far>
        </clip>
      </camera>
      <plugin filename="libgazebo_ros_depth_camera.so" name="wide_stereo_r_stereo_camera_controller">
        <alwaysOn>true</alwaysOn>
        <updateRate>25.0</updateRate>
        <cameraName>wide_stereo/right</cameraName>
        <imageTopicName>image_raw</imageTopicName>
        <cameraInfoTopicName>camera_info</cameraInfoTopicName>
        <frameName>wide_stereo_optical_frame</frameName>
        <hackBaseline>0.09</hackBaseline>
        <CxPrime>320.5</CxPrime>
        <Cx>320.5</Cx>
        <Cy>240.5</Cy>
        <!-- image_width / (2*tan(hfov_radian /2)) -->
        <!-- 320 for wide and 772.55 for narrow stereo camera -->
        <focalLength>320</focalLength>
        <distortionK1>0.0</distortionK1>
        <distortionK2>0.0</distortionK2>
        <distortionK3>0.0</distortionK3>
        <distortionT1>0.0</distortionT1>
        <distortionT2>0.0</distortionT2>
      </plugin>
    </sensor>
    <turnGravityOff>true</turnGravityOff>
    <material>PR2/Blue</material>
  </gazebo>
  <gazebo reference="wide_stereo_link">
    <material value="PR2/Blue"/>
    <turnGravityOff value="true"/>
  </gazebo>
  <gazebo reference="wide_stereo_optical_frame">
    <material value="Gazebo/White"/>
    <turnGravityOff value="true"/>
  </gazebo>
  <joint name="narrow_stereo_frame_joint" type="fixed">
    <origin rpy="0.0   0.0   0.0" xyz="0.045 0.06 0.0501"/>
    <parent link="double_stereo_link"/>
    <child link="narrow_stereo_link"/>
  </joint>
  <link name="narrow_stereo_link">
    <inertial>
      <mass value="0.1"/>
      <origin rpy="0 0 0" xyz="0 0 0"/>
      <inertia ixx="0.01" ixy="0" ixz="0" iyy="0.01" iyz="0" izz="0.01"/>
      <!-- this inertia is made up for now. -->
    </inertial>
  </link>
  <joint name="narrow_stereo_optical_frame_joint" type="fixed">
    <origin rpy="-1.57079632679 0.0 -1.57079632679" xyz="0 0 0"/>
    <!-- rotate frame from x-forward to z-forward camera coords -->
    <parent link="narrow_stereo_link"/>
    <child link="narrow_stereo_optical_frame"/>
  </joint>
  <link name="narrow_stereo_optical_frame" type="camera"/>
  <joint name="narrow_stereo_l_stereo_camera_frame_joint" type="fixed">
    <origin rpy="0 0 0" xyz="0 0 0"/>
    <parent link="narrow_stereo_link"/>
    <child link="narrow_stereo_l_stereo_camera_frame"/>
  </joint>
  <link name="narrow_stereo_l_stereo_camera_frame">
    <inertial>
      <mass value="0.01"/>
      <origin xyz="0 0 0"/>
      <inertia ixx="0.001" ixy="0.0" ixz="0.0" iyy="0.001" iyz="0.0" izz="0.001"/>
    </inertial>
  </link>
  <joint name="narrow_stereo_l_stereo_camera_optical_frame_joint" type="fixed">
    <origin rpy="-1.57079632679 0.0 -1.57079632679" xyz="0 0 0"/>
    <parent link="narrow_stereo_l_stereo_camera_frame"/>
    <child link="narrow_stereo_l_stereo_camera_optical_frame"/>
  </joint>
  <link name="narrow_stereo_l_stereo_camera_optical_frame"/>
  <gazebo reference="narrow_stereo_l_stereo_camera_frame">
    <sensor name="narrow_stereo_l_stereo_camera_sensor" type="depth">
      <always_on>true</always_on>
      <update_rate>25.0</update_rate>
      <camera>
        <horizontal_fov>0.785398163397</horizontal_fov>
        <image>
          <format>L8</format>
          <width>640</width>
          <height>480</height>
        </image>
        <clip>
          <near>0.1</near>
          <far>100</far>
        </clip>
      </camera>
      <plugin filename="libgazebo_ros_depth_camera.so" name="narrow_stereo_l_stereo_camera_controller">
        <alwaysOn>true</alwaysOn>
        <updateRate>25.0</updateRate>
        <cameraName>narrow_stereo/left</cameraName>
        <imageTopicName>image_raw</imageTopicName>
        <cameraInfoTopicName>camera_info</cameraInfoTopicName>
        <frameName>narrow_stereo_optical_frame</frameName>
        <hackBaseline>0</hackBaseline>
        <CxPrime>320.5</CxPrime>
        <Cx>320.5</Cx>
        <Cy>240.5</Cy>
        <!-- image_width / (2*tan(hfov_radian /2)) -->
        <!-- 320 for wide and 772.55 for narrow stereo camera -->
        <focalLength>772.55</focalLength>
        <distortionK1>0.0</distortionK1>
        <distortionK2>0.0</distortionK2>
        <distortionK3>0.0</distortionK3>
        <distortionT1>0.0</distortionT1>
        <distortionT2>0.0</distortionT2>
      </plugin>
    </sensor>
    <turnGravityOff>true</turnGravityOff>
    <material>PR2/Blue</material>
  </gazebo>
  <joint name="narrow_stereo_r_stereo_camera_frame_joint" type="fixed">
    <origin rpy="0.0 0.0 0.0" xyz="0.0 -0.09 0.0"/>
    <parent link="narrow_stereo_l_stereo_camera_frame"/>
    <child link="narrow_stereo_r_stereo_camera_frame"/>
  </joint>
  <link name="narrow_stereo_r_stereo_camera_frame">
    <inertial>
      <mass value="0.01"/>
      <origin xyz="0 0 0"/>
      <inertia ixx="0.001" ixy="0.0" ixz="0.0" iyy="0.001" iyz="0.0" izz="0.001"/>
    </inertial>
  </link>
  <joint name="narrow_stereo_r_stereo_camera_optical_frame_joint" type="fixed">
    <origin rpy="-1.57079632679 0.0 -1.57079632679" xyz="0 0 0"/>
    <parent link="narrow_stereo_r_stereo_camera_frame"/>
    <child link="narrow_stereo_r_stereo_camera_optical_frame"/>
  </joint>
  <link name="narrow_stereo_r_stereo_camera_optical_frame"/>
  <gazebo reference="narrow_stereo_r_stereo_camera_frame">
    <sensor name="narrow_stereo_r_stereo_camera_sensor" type="depth">
      <always_on>true</always_on>
      <update_rate>25.0</update_rate>
      <camera>
        <horizontal_fov>0.785398163397</horizontal_fov>
        <image>
          <format>L8</format>
          <width>640</width>
          <height>480</height>
        </image>
        <clip>
          <near>0.1</near>
          <far>100</far>
        </clip>
      </camera>
      <plugin filename="libgazebo_ros_depth_camera.so" name="narrow_stereo_r_stereo_camera_controller">
        <alwaysOn>true</alwaysOn>
        <updateRate>25.0</updateRate>
        <cameraName>narrow_stereo/right</cameraName>
        <imageTopicName>image_raw</imageTopicName>
        <cameraInfoTopicName>camera_info</cameraInfoTopicName>
        <frameName>narrow_stereo_optical_frame</frameName>
        <hackBaseline>0.09</hackBaseline>
        <CxPrime>320.5</CxPrime>
        <Cx>320.5</Cx>
        <Cy>240.5</Cy>
        <!-- image_width / (2*tan(hfov_radian /2)) -->
        <!-- 320 for wide and 772.55 for narrow stereo camera -->
        <focalLength>772.55</focalLength>
        <distortionK1>0.0</distortionK1>
        <distortionK2>0.0</distortionK2>
        <distortionK3>0.0</distortionK3>
        <distortionT1>0.0</distortionT1>
        <distortionT2>0.0</distortionT2>
      </plugin>
    </sensor>
    <turnGravityOff>true</turnGravityOff>
    <material>PR2/Blue</material>
  </gazebo>
  <gazebo reference="narrow_stereo_link">
    <material value="PR2/Blue"/>
    <turnGravityOff value="true"/>
  </gazebo>
  <gazebo reference="narrow_stereo_optical_frame">
    <material value="Gazebo/White"/>
    <turnGravityOff value="true"/>
  </gazebo>
  <gazebo reference="double_stereo_double_stereo_link">
    <material value="PR2/Blue"/>
  </gazebo>
  <gazebo reference="sensor_mount_sensor_link">
    <material value="PR2/Blue"/>
  </gazebo>
  <!-- Projector -->
  <joint name="projector_wg6802418_frame_joint" type="fixed">
    <origin rpy="0 0 0" xyz="0 0.110 0.0546"/>
    <parent link="head_plate_frame"/>
    <child link="projector_wg6802418_frame"/>
  </joint>
  <link name="projector_wg6802418_frame">
    <inertial>
      <mass value="0.01"/>
      <origin rpy="0 0 0" xyz="0 0 0"/>
      <inertia ixx="0.001" ixy="0.0" ixz="0.0" iyy="0.001" iyz="0.0" izz="0.001"/>
    </inertial>
  </link>
  <joint name="projector_wg6802418_child_frame_joint" type="fixed">
    <origin rpy="0 -1.57079632679 0" xyz="0 0 0"/>
    <parent link="projector_wg6802418_frame"/>
    <child link="projector_wg6802418_child_frame"/>
  </joint>
  <link name="projector_wg6802418_child_frame">
    <inertial>
      <mass value="0.01"/>
      <origin rpy="0 0 0" xyz="0 0 0"/>
      <inertia ixx="0.001" ixy="0.0" ixz="0.0" iyy="0.001" iyz="0.0" izz="0.001"/>
    </inertial>
  </link>
  <gazebo reference="projector_wg6802418_child_frame">
    <projector name="projector_wg6802418_projector_wg6802418">
      <pose>0 0 0 0 -1.5707 0</pose>
      <texture>stereo_projection_pattern_high_res_red.png</texture>
      <fov>0.959931088597</fov>
      <near_clip>0.1</near_clip>
      <far_clip>10</far_clip>
    </projector>
  </gazebo>
  <gazebo>
    <plugin filename="libgazebo_ros_projector.so" name="projector_wg6802418_controller">
      <projector>projector_wg6802418_child_frame/projector_wg6802418_projector_wg6802418</projector>
      <alwaysOn>true</alwaysOn>
      <updateRate>15.0</updateRate>
      <textureName>stereo_projection_pattern_high_res_red.png</textureName>
      <filterTextureName>stereo_projection_pattern_filter.png</filterTextureName>
      <textureTopicName>projector_wg6802418_controller/image</textureTopicName>
      <projectorTopicName>projector_wg6802418_controller/projector</projectorTopicName>
    </plugin>
  </gazebo>
  <!-- Base of Kinect/Prosilica Mount -->
  <joint name="head_mount_joint" type="fixed">
    <!-- <limit lower="0.1" upper="0.1" effort="10000" velocity="100.0"/> -->
    <!-- <insert_block name="origin" /> -->
    <origin rpy="0 0 0" xyz="-0.138 0 0.091"/>
    <parent link="head_plate_frame"/>
    <child link="head_mount_link"/>
  </joint>
  <link name="head_mount_link">
    <inertial>
      <mass value="0.1"/>
      <origin rpy="0 0 0" xyz="0 0 0"/>
      <inertia ixx="0.01" ixy="0.0" ixz="0.0" iyy="0.01" iyz="0.0" izz="0.01"/>
    </inertial>
    <visual>
      <origin rpy="0 0 0" xyz="0.0 0.0 0"/>
      <geometry>
        <mesh filename="package://pr2_description/meshes/sensors/kinect_prosilica_v0/115x100_swept_back--coarse.STL" scale="0.001 0.001 0.001"/>
      </geometry>
      <material name="gray">
        <color rgba="0.5 0.5 0.5 1"/>
      </material>
    </visual>
    <collision>
      <origin rpy="0 0 0" xyz="0.0 0.0 0"/>
      <geometry>
        <sphere radius="0.0005"/>
      </geometry>
    </collision>
  </link>
  <joint name="head_mount_kinect_ir_joint" type="fixed">
    <origin rpy="0 0 0" xyz="-0.032267 0.0125 0.136453"/>
    <parent link="head_mount_link"/>
    <child link="head_mount_kinect_ir_link"/>
  </joint>
  <link name="head_mount_kinect_ir_link">
    <inertial>
      <mass value="0.1"/>
      <origin rpy="0 0 0" xyz="0 0 0"/>
      <inertia ixx="0.01" ixy="0.0" ixz="0.0" iyy="0.01" iyz="0.0" izz="0.01"/>
    </inertial>
    <visual>
      <origin rpy="0 0 0" xyz="0.0 0.0 0"/>
      <geometry>
        <sphere radius="0.0005"/>
      </geometry>
    </visual>
    <collision>
      <origin rpy="0 0 0" xyz="0.0 0.0 0"/>
      <geometry>
        <sphere radius="0.0005"/>
      </geometry>
    </collision>
  </link>
  <joint name="head_mount_kinect_ir_optical_frame_joint" type="fixed">
    <origin rpy="-1.57079632679 0.0 -1.57079632679" xyz="0.0            0.01         0.0"/>
    <parent link="head_mount_kinect_ir_link"/>
    <child link="head_mount_kinect_ir_optical_frame"/>
  </joint>
  <link name="head_mount_kinect_ir_optical_frame"/>
  <gazebo reference="head_mount_kinect_ir_link">
    <sensor name="head_mount_ir_sensor" type="depth">
      <always_on>true</always_on>
      <update_rate>1.0</update_rate>
      <camera>
        <horizontal_fov>0.994837673637</horizontal_fov>
        <image>
          <format>L8</format>
          <width>640</width>
          <height>480</height>
        </image>
        <clip>
          <near>0.01</near>
          <far>5</far>
        </clip>
      </camera>
      <plugin filename="libgazebo_ros_openni_kinect.so" name="head_mount_kinect_ir_link_controller">
        <baseline>0.2</baseline>
        <alwaysOn>true</alwaysOn>
        <updateRate>1.0</updateRate>
        <cameraName>head_mount_kinect_ir</cameraName>
        <imageTopicName>/head_mount_kinect/depth/image_raw</imageTopicName>
        <cameraInfoTopicName>/head_mount_kinect/depth/camera_info</cameraInfoTopicName>
        <depthImageTopicName>/head_mount_kinect/depth/image_raw</depthImageTopicName>
        <depthImageInfoTopicName>/head_mount_kinect/depth/camera_info</depthImageInfoTopicName>
        <pointCloudTopicName>/head_mount_kinect/depth/points</pointCloudTopicName>
        <frameName>head_mount_kinect_ir_optical_frame</frameName>
        <pointCloudCutoff>0.5</pointCloudCutoff>
        <distortionK1>0.00000001</distortionK1>
        <distortionK2>0.00000001</distortionK2>
        <distortionK3>0.00000001</distortionK3>
        <distortionT1>0.00000001</distortionT1>
        <distortionT2>0.00000001</distortionT2>
      </plugin>
    </sensor>
    <material value="Gazebo/Red"/>
  </gazebo>
  <joint name="head_mount_kinect_rgb_joint" type="fixed">
    <origin rpy="0 0 0" xyz="0 -0.03 0"/>
    <parent link="head_mount_kinect_ir_link"/>
    <child link="head_mount_kinect_rgb_link"/>
  </joint>
  <link name="head_mount_kinect_rgb_link">
    <inertial>
      <mass value="0.1"/>
      <origin rpy="0 0 0" xyz="0 0 0"/>
      <inertia ixx="0.01" ixy="0.0" ixz="0.0" iyy="0.01" iyz="0.0" izz="0.01"/>
    </inertial>
    <visual>
      <origin rpy="0 0 0" xyz="0.0 0.0 0"/>
      <geometry>
        <sphere radius="0.0005"/>
      </geometry>
    </visual>
    <collision>
      <origin rpy="0 0 0" xyz="0.0 0.0 0"/>
      <geometry>
        <sphere radius="0.0005"/>
      </geometry>
    </collision>
  </link>
  <joint name="head_mount_kinect_rgb_optical_frame_joint" type="fixed">
    <origin rpy="-1.57079632679 0.0 -1.57079632679" xyz="0.0            0.0         0.0"/>
    <parent link="head_mount_kinect_rgb_link"/>
    <child link="head_mount_kinect_rgb_optical_frame"/>
  </joint>
  <link name="head_mount_kinect_rgb_optical_frame"/>
  <gazebo reference="head_mount_kinect_rgb_link">
    <sensor name="head_mount_rgb_sensor" type="depth">
      <always_on>true</always_on>
      <update_rate>1.0</update_rate>
      <camera>
        <horizontal_fov>0.994837673637</horizontal_fov>
        <image>
          <format>R8G8B8</format>
          <width>640</width>
          <height>480</height>
        </image>
        <clip>
          <near>0.01</near>
          <far>5</far>
        </clip>
      </camera>
      <plugin filename="libgazebo_ros_openni_kinect.so" name="head_mount_kinect_rgb_link_controller">
        <alwaysOn>true</alwaysOn>
        <updateRate>1.0</updateRate>
        <cameraName>head_mount_kinect_rgb</cameraName>
        <imageTopicName>/head_mount_kinect/rgb/image_raw</imageTopicName>
        <cameraInfoTopicName>/head_mount_kinect/rgb/camera_info</cameraInfoTopicName>
        <pointCloudTopicName>/head_mount_kinect/depth_registered/points</pointCloudTopicName>
        <frameName>head_mount_kinect_rgb_optical_frame</frameName>
        <pointCloudCutoff>0.5</pointCloudCutoff>
        <distortionK1>0.00000001</distortionK1>
        <distortionK2>0.00000001</distortionK2>
        <distortionK3>0.00000001</distortionK3>
        <distortionT1>0.00000001</distortionT1>
        <distortionT2>0.00000001</distortionT2>
      </plugin>
    </sensor>
    <material value="Gazebo/Red"/>
  </gazebo>
  <joint name="head_mount_prosilica_joint" type="fixed">
    <origin rpy="0 0 0" xyz="-0.046457 0.0125 0.088921"/>
    <parent link="head_mount_link"/>
    <child link="head_mount_prosilica_link"/>
  </joint>
  <link name="head_mount_prosilica_link">
    <inertial>
      <mass value="0.1"/>
      <origin rpy="0 0 0" xyz="0 0 0"/>
      <inertia ixx="0.01" ixy="0.0" ixz="0.0" iyy="0.01" iyz="0.0" izz="0.01"/>
    </inertial>
    <visual>
      <origin rpy="0 0 0" xyz="0.0 0.0 0"/>
      <geometry>
        <sphere radius="0.0005"/>
      </geometry>
    </visual>
    <collision>
      <origin rpy="0 0 0" xyz="0.0 0.0 0"/>
      <geometry>
        <sphere radius="0.0005"/>
      </geometry>
    </collision>
  </link>
  <joint name="head_mount_prosilica_optical_frame_joint" type="fixed">
    <origin rpy="-1.57079632679 0.0 -1.57079632679" xyz="0.0            0.0         0.0"/>
    <parent link="head_mount_prosilica_link"/>
    <child link="head_mount_prosilica_optical_frame"/>
  </joint>
  <link name="head_mount_prosilica_optical_frame"/>
  <gazebo reference="head_mount_prosilica_link">
    <sensor name="head_mount_prosilica_link_sensor" type="depth">
      <always_on>true</always_on>
      <update_rate>1.0</update_rate>
      <camera>
        <horizontal_fov>1.12050137978</horizontal_fov>
        <image>
          <format>R8G8B8</format>
          <width>320</width>
          <height>240</height>
        </image>
        <clip>
          <near>0.1</near>
          <far>100</far>
        </clip>
      </camera>
      <plugin filename="libgazebo_ros_prosilica.so" name="head_mount_prosilica_link_controller">
        <alwaysOn>true</alwaysOn>
        <updateRate>1.0</updateRate>
        <cameraName>prosilica_camera_1mb</cameraName>
        <imageTopicName>image_raw</imageTopicName>
        <cameraInfoTopicName>camera_info</cameraInfoTopicName>
        <pollServiceName>request_image</pollServiceName>
        <frameName>head_mount_prosilica_optical_frame</frameName>
        <distortionK1>0.0</distortionK1>
        <distortionK2>0.0</distortionK2>
        <distortionK3>0.0</distortionK3>
        <distortionT1>0.0</distortionT1>
        <distortionT2>0.0</distortionT2>
      </plugin>
    </sensor>
    <sensor name="head_mount_prosilica_link_sim_pcd_sensor" type="depth">
      <always_on>true</always_on>
      <update_rate>1.0</update_rate>
      <camera>
        <horizontal_fov>1.12050137978</horizontal_fov>
        <image>
          <format>R8G8B8</format>
          <width>320</width>
          <height>240</height>
        </image>
        <clip>
          <near>0.1</near>
          <far>100</far>
        </clip>
      </camera>
      <plugin filename="libgazebo_ros_openni_kinect.so" name="head_mount_prosilica_link_sim_pcd_controller">
        <alwaysOn>true</alwaysOn>
        <updateRate>1.0</updateRate>
        <cameraName>prosilica_camera_1mb_sim_pcd</cameraName>
        <imageTopicName>image_raw</imageTopicName>
        <cameraInfoTopicName>camera_info</cameraInfoTopicName>
        <frameName>head_mount_prosilica_optical_frame</frameName>
      </plugin>
    </sensor>
    <material value="Gazebo/Red"/>
  </gazebo>
  <joint name="laser_tilt_mount_joint" type="revolute">
    <axis xyz="0 1 0"/>
    <limit effort="0.65" lower="-0.7854" upper="1.48353" velocity="10.0"/>
    <!-- alpha tested velocity and effort limits -->
    <safety_controller k_position="100" k_velocity="0.05" soft_lower_limit="-0.7354" soft_upper_limit="1.43353"/>
    <calibration falling="0.0"/>
    <dynamics damping="0.008"/>
    <origin rpy="0 0 0" xyz="0.09893 0 0.227"/>
    <parent link="torso_lift_link"/>
    <child link="laser_tilt_mount_link"/>
  </joint>
  <link name="laser_tilt_mount_link">
    <inertial>
      <mass value="0.591"/>
      <origin rpy="0 0 0" xyz="-0.001136 0.00167 -0.00713"/>
      <inertia ixx="0.001195273" ixy="0.000023087" ixz="0.000037467" iyy="0.001083956" iyz="0.000034906" izz="0.000795014"/>
    </inertial>
    <visual>
      <origin rpy="0 0 0" xyz="0 0 0"/>
      <geometry>
        <mesh filename="package://pr2_description/meshes/tilting_laser_v0/tilting_hokuyo.dae"/>
      </geometry>
      <material name="Red"/>
    </visual>
    <collision>
      <origin rpy="0 0 0" xyz="0 0 0"/>
      <geometry>
        <mesh filename="package://pr2_description/meshes/tilting_laser_v0/tilting_hokuyo_L.stl"/>
      </geometry>
    </collision>
  </link>
  <joint name="laser_tilt_joint" type="fixed">
    <axis xyz="0 1 0"/>
    <origin rpy="0 0 0" xyz="0 0 0.03"/>
    <parent link="laser_tilt_mount_link"/>
    <child link="laser_tilt_link"/>
  </joint>
  <link name="laser_tilt_link" type="laser">
    <inertial>
      <mass value="0.001"/>
      <origin rpy="0 0 0" xyz="0 0 0"/>
      <inertia ixx="0.0001" ixy="0" ixz="0" iyy="0.000001" iyz="0" izz="0.0001"/>
    </inertial>
  </link>
  <gazebo reference="laser_tilt_link">
    <sensor name="laser_tilt" type="ray">
      <always_on>true</always_on>
      <update_rate>40</update_rate>
      <pose>0 0 0 0 0 0</pose>
      <visualize>false</visualize>
      <ray>
        <scan>
          <horizontal>
            <samples>640</samples>
            <resolution>1</resolution>
            <min_angle>-1.3962634</min_angle>
            <max_angle>1.3962634</max_angle>
          </horizontal>
        </scan>
        <range>
          <min>0.08</min>
          <max>10.0</max>
          <resolution>0.01</resolution>
        </range>
      </ray>
      <plugin filename="libgazebo_ros_laser.so" name="gazebo_ros_laser_tilt_controller">
        <gaussianNoise>0.005</gaussianNoise>
        <alwaysOn>true</alwaysOn>
        <updateRate>40</updateRate>
        <topicName>tilt_scan</topicName>
        <frameName>laser_tilt_link</frameName>
      </plugin>
    </sensor>
  </gazebo>
  <gazebo reference="laser_tilt_mount_link">
    </gazebo>
  <transmission name="laser_tilt_mount_trans" type="pr2_mechanism_model/SimpleTransmission">
    <actuator name="laser_tilt_mount_motor"/>
    <joint name="laser_tilt_mount_joint"/>
    <mechanicalReduction>-6.05</mechanicalReduction>
  </transmission>
  <!-- This is a common convention, to use a reflect parameter that equals +-1 to distinguish left from right -->
  <joint name="r_shoulder_pan_joint" type="revolute">
    <axis xyz="0 0 1"/>
    <origin rpy="0 0 0" xyz="0.0 -0.188 0.0"/>
    <!-- transform from parent link to this joint frame -->
    <parent link="torso_lift_link"/>
    <child link="r_shoulder_pan_link"/>
    <limit effort="30" lower="-2.2853981634" upper="0.714601836603" velocity="2.088"/>
    <!-- alpha tested velocity and effort limits -->
    <dynamics damping="10.0"/>
    <safety_controller k_position="100" k_velocity="10" soft_lower_limit="-2.1353981634" soft_upper_limit="0.564601836603"/>
    <!-- joint angle when the rising or the falling flag is activated on PR2 -->
    <calibration rising="-0.785398163397"/>
  </joint>
  <link name="r_shoulder_pan_link">
    <inertial>
      <mass value="25.799322"/>
      <origin rpy="0 0 0" xyz="-0.001201 0.024513 -0.098231"/>
      <inertia ixx="0.866179142480" ixy="-0.06086507933" ixz="-0.12118061183" iyy="0.87421714893" iyz="-0.05886609911" izz="0.27353821674"/>
    </inertial>
    <visual>
      <origin rpy="0 0 0" xyz="0 0 0"/>
      <geometry>
        <mesh filename="package://pr2_description/meshes/shoulder_v0/shoulder_pan.dae"/>
      </geometry>
      <material name="Blue"/>
    </visual>
    <collision>
      <origin rpy="0 0 0" xyz="0.0 0 0.0"/>
      <geometry>
        <mesh filename="package://pr2_description/meshes/shoulder_v0/shoulder_pan.stl"/>
      </geometry>
    </collision>
  </link>
  <joint name="r_shoulder_lift_joint" type="revolute">
    <axis xyz="0 1 0"/>
    <!-- Limits updated from Function's CAD values as of 2009_02_24 (link_data.xls) -->
    <limit effort="30" lower="-0.5236" upper="1.3963" velocity="2.082"/>
    <!-- alpha tested velocity and effort limits -->
    <safety_controller k_position="100" k_velocity="10" soft_lower_limit="-0.3536" soft_upper_limit="1.2963"/>
    <calibration falling="0.0"/>
    <dynamics damping="10.0"/>
    <origin rpy="0 0 0" xyz="0.1 0 0"/>
    <parent link="r_shoulder_pan_link"/>
    <child link="r_shoulder_lift_link"/>
  </joint>
  <link name="r_shoulder_lift_link">
    <inertial>
      <mass value="2.74988"/>
      <origin rpy="0 0 0" xyz="0.02195 -0.02664 -0.03127"/>
      <inertia ixx="0.02105584615" ixy="0.00496704022" ixz="-0.00194808955" iyy="0.02127223737" iyz="0.00110425490" izz="0.01975753814"/>
    </inertial>
    <visual>
      <origin rpy="0 0 0" xyz="0 0 0"/>
      <geometry>
        <mesh filename="package://pr2_description/meshes/shoulder_v0/shoulder_lift.dae"/>
      </geometry>
      <material name="Grey"/>
    </visual>
    <collision>
      <origin rpy="0 0 0" xyz="0 0 0"/>
      <geometry>
        <mesh filename="package://pr2_description/meshes/shoulder_v0/shoulder_lift.stl"/>
      </geometry>
    </collision>
  </link>
  <joint name="r_upper_arm_roll_joint" type="revolute">
    <axis xyz="1 0 0"/>
    <origin rpy="0 0 0" xyz="0 0 0"/>
    <parent link="r_shoulder_lift_link"/>
    <child link="r_upper_arm_roll_link"/>
    <limit effort="30" lower="-3.9" upper="0.8" velocity="3.27"/>
    <!-- alpha tested velocity and effort limits -->
    <safety_controller k_position="100" k_velocity="2" soft_lower_limit="-3.75" soft_upper_limit="0.65"/>
    <calibration rising="-1.57079632679"/>
    <dynamics damping="0.1"/>
  </joint>
  <link name="r_upper_arm_roll_link">
    <inertial>
      <!-- dummy mass, to be removed -->
      <mass value="0.1"/>
      <origin rpy="0 0 0" xyz="0.0 0 0"/>
      <inertia ixx="0.01" ixy="0.00" ixz="0.00" iyy="0.01" iyz="0.00" izz="0.01"/>
    </inertial>
    <visual>
      <!-- TODO: This component doesn't actually have a mesh -->
      <origin rpy="0 0 0" xyz="0 0 0"/>
      <geometry>
        <mesh filename="package://pr2_description/meshes/shoulder_v0/upper_arm_roll.stl"/>
      </geometry>
      <material name="RollLinks"/>
    </visual>
    <collision>
      <origin rpy="0 0 0" xyz="0 0 0"/>
      <geometry>
        <mesh filename="package://pr2_description/meshes/shoulder_v0/upper_arm_roll_L.stl"/>
      </geometry>
    </collision>
  </link>
  <gazebo reference="r_upper_arm_roll_link">
    <material value="PR2/RollLinks"/>
    <turnGravityOff>true</turnGravityOff>
  </gazebo>
  <gazebo reference="r_upper_arm_roll_joint">
    <stopKd value="1.0"/>
    <stopKp value="1000000.0"/>
    <fudgeFactor value="0.5"/>
  </gazebo>
  <transmission name="r_upper_arm_roll_trans" type="pr2_mechanism_model/SimpleTransmission">
    <actuator name="r_upper_arm_roll_motor"/>
    <joint name="r_upper_arm_roll_joint"/>
    <mechanicalReduction>32.6525111499</mechanicalReduction>
  </transmission>
  <gazebo reference="r_shoulder_pan_link">
    <turnGravityOff>true</turnGravityOff>
  </gazebo>
  <gazebo reference="r_shoulder_pan_joint">
    <stopKd value="1.0"/>
    <stopKp value="1000000.0"/>
  </gazebo>
  <gazebo reference="r_shoulder_lift_link">
    <turnGravityOff>true</turnGravityOff>
  </gazebo>
  <gazebo reference="r_shoulder_lift_joint">
    <stopKd value="1.0"/>
    <stopKp value="1000000.0"/>
  </gazebo>
  <transmission name="r_shoulder_pan_trans" type="pr2_mechanism_model/SimpleTransmission">
    <joint name="r_shoulder_pan_joint"/>
    <actuator name="r_shoulder_pan_motor"/>
    <mechanicalReduction>63.1552452977</mechanicalReduction>
    <compensator k_belt="4000.0" kd_motor="15.0" lambda_combined="0.0" lambda_joint="40.0" lambda_motor="40.0" mass_motor="0.05"/>
  </transmission>
  <transmission name="r_shoulder_lift_trans" type="pr2_mechanism_model/SimpleTransmission">
    <joint name="r_shoulder_lift_joint"/>
    <actuator name="r_shoulder_lift_motor"/>
    <mechanicalReduction>61.8948225713</mechanicalReduction>
    <compensator k_belt="4000.0" kd_motor="10.0" lambda_combined="0.0" lambda_joint="60.0" lambda_motor="60.0" mass_motor="0.05"/>
  </transmission>
  <joint name="r_upper_arm_joint" type="fixed">
    <origin rpy="0 0 0" xyz="0 0 0"/>
    <parent link="r_upper_arm_roll_link"/>
    <child link="r_upper_arm_link"/>
  </joint>
  <link name="r_upper_arm_link">
    <inertial>
      <!-- NOTE:reflect==-1 for right side, reflect==1 for the left side -->
      <mass value="6.01769"/>
      <origin xyz="0.21398 -0.01621 -0.0002"/>
      <inertia ixx="0.01537748957" ixy="0.00375711247" ixz="-0.00070852914" iyy="0.0747367044" iyz="-0.0001793645" izz="0.07608763307"/>
    </inertial>
    <visual>
      <origin rpy="0 0 0" xyz="0 0 0"/>
      <geometry>
        <mesh filename="package://pr2_description/meshes/upper_arm_v0/upper_arm.dae"/>
      </geometry>
      <material name="Green"/>
    </visual>
    <collision>
      <origin rpy="0 0 0" xyz="0 0 0"/>
      <geometry>
        <mesh filename="package://pr2_description/meshes/upper_arm_v0/upper_arm.stl"/>
      </geometry>
    </collision>
  </link>
  <gazebo reference="r_upper_arm_link">
    <turnGravityOff>true</turnGravityOff>
  </gazebo>
  <joint name="r_forearm_roll_joint" type="continuous">
    <axis xyz="1 0 0"/>
    <limit effort="30" velocity="3.6"/>
    <!-- alpha tested velocity and effort limits -->
    <safety_controller k_velocity="1"/>
    <calibration rising="0.0"/>
    <dynamics damping="0.1"/>
    <origin rpy="0 0 0" xyz="0 0 0"/>
    <parent link="r_elbow_flex_link"/>
    <child link="r_forearm_roll_link"/>
  </joint>
  <link name="r_forearm_roll_link">
    <inertial>
      <!-- dummy masses, to be removed -->
      <mass value="0.1"/>
      <origin xyz="0 0 0"/>
      <inertia ixx="0.01" ixy="0.00" ixz="0.00" iyy="0.01" iyz="0.00" izz="0.01"/>
    </inertial>
    <visual>
      <origin rpy="0 0 0" xyz="0 0 0"/>
      <geometry>
        <mesh filename="package://pr2_description/meshes/upper_arm_v0/forearm_roll.stl"/>
      </geometry>
      <material name="RollLinks"/>
    </visual>
    <!-- TODO: collision tag should be optional -->
    <collision>
      <origin rpy="0 0 0" xyz="0 0 0"/>
      <geometry>
        <mesh filename="package://pr2_description/meshes/upper_arm_v0/forearm_roll_L.stl"/>
      </geometry>
    </collision>
  </link>
  <gazebo reference="r_forearm_roll_link">
    <material value="PR2/RollLinks"/>
    <turnGravityOff>true</turnGravityOff>
  </gazebo>
  <gazebo reference="r_forearm_roll_joint">
    <fudgeFactor value="0.5"/>
  </gazebo>
  <transmission name="r_forearm_roll_trans" type="pr2_mechanism_model/SimpleTransmission">
    <actuator name="r_forearm_roll_motor"/>
    <joint name="r_forearm_roll_joint"/>
    <mechanicalReduction>-90.5142857143</mechanicalReduction>
  </transmission>
  <joint name="r_elbow_flex_joint" type="revolute">
    <axis xyz="0 1 0"/>
    <!-- Note: Overtravel limits are 140, -7 degrees instead of 133, 0 -->
    <limit effort="30" lower="-2.3213" upper="0.00" velocity="3.3"/>
    <!-- alpha tested velocity and effort limits -->
    <safety_controller k_position="100" k_velocity="3" soft_lower_limit="-2.1213" soft_upper_limit="-0.15"/>
    <calibration falling="-1.1606"/>
    <dynamics damping="1.0"/>
    <origin rpy="0 0 0" xyz="0.4 0 0"/>
    <parent link="r_upper_arm_link"/>
    <child link="r_elbow_flex_link"/>
  </joint>
  <link name="r_elbow_flex_link">
    <inertial>
      <mass value="1.90327"/>
      <origin xyz="0.01014 0.00032 -0.01211"/>
      <inertia ixx="0.00346541989" ixy="0.00004066825" ixz="0.00043171614" iyy="0.00441606455" iyz="-0.00003968914" izz="0.00359156824"/>
    </inertial>
    <visual>
      <origin rpy="0 0 0" xyz="0 0 0"/>
      <geometry>
        <mesh filename="package://pr2_description/meshes/upper_arm_v0/elbow_flex.dae"/>
      </geometry>
      <material name="Grey"/>
    </visual>
    <collision>
      <origin rpy="0 0 0" xyz="0 0 0"/>
      <geometry>
        <mesh filename="package://pr2_description/meshes/upper_arm_v0/elbow_flex.stl"/>
      </geometry>
    </collision>
  </link>
  <gazebo reference="r_elbow_flex_joint">
    <initial_joint_position>-1.0</initial_joint_position>
  </gazebo>
  <gazebo reference="r_elbow_flex_link">
    <turnGravityOff>true</turnGravityOff>
  </gazebo>
  <gazebo reference="r_elbow_flex_joint">
    <stopKd value="1.0"/>
    <stopKp value="1000000.0"/>
  </gazebo>
  <transmission name="r_elbow_flex_trans" type="pr2_mechanism_model/SimpleTransmission">
    <actuator name="r_elbow_flex_motor"/>
    <joint name="r_elbow_flex_joint"/>
    <mechanicalReduction>-36.167452007</mechanicalReduction>
  </transmission>
  <joint name="r_forearm_joint" type="fixed">
    <origin rpy="0 0 0" xyz="0 0 0"/>
    <!-- transform from parent link to this joint frame -->
    <parent link="r_forearm_roll_link"/>
    <child link="r_forearm_link"/>
  </joint>
  <link name="r_forearm_link">
    <inertial>
      <mass value="2.57968"/>
      <origin xyz="0.18791 -0.00017 -0.00912"/>
      <inertia ixx="0.00364857222" ixy="0.00005215877" ixz="0.00071534842" iyy="0.01507736897" iyz="-0.00001310770" izz="0.01659310749"/>
    </inertial>
    <visual>
      <origin rpy="0 0 0" xyz="0 0 0"/>
      <geometry>
        <mesh filename="package://pr2_description/meshes/forearm_v0/forearm.dae"/>
      </geometry>
      <material name="Grey"/>
    </visual>
    <collision>
      <origin rpy="0 0 0" xyz="0 0 0"/>
      <geometry>
        <mesh filename="package://pr2_description/meshes/forearm_v0/forearm.stl"/>
      </geometry>
    </collision>
  </link>
  <joint name="r_wrist_flex_joint" type="revolute">
    <axis xyz="0 1 0"/>
    <limit effort="10" lower="-2.18" upper="0.0" velocity="3.078"/>
    <!-- alpha tested velocity and effort limits -->
    <safety_controller k_position="20" k_velocity="4" soft_lower_limit="-2.0" soft_upper_limit="-0.1"/>
    <dynamics damping="0.1"/>
    <calibration falling="-0.5410521"/>
    <origin rpy="0 0 0" xyz="0.321 0 0"/>
    <parent link="r_forearm_link"/>
    <child link="r_wrist_flex_link"/>
  </joint>
  <link name="r_wrist_flex_link">
    <inertial>
      <mass value="0.61402"/>
      <origin xyz="-0.00157 0.0 -0.00075"/>
      <inertia ixx="0.00065165722" ixy="0.00000028864" ixz="0.00000303477" iyy="0.00019824443" iyz="-0.00000022645" izz="0.00064450498"/>
    </inertial>
    <visual>
      <origin rpy="0 0 0" xyz="0 0 0"/>
      <geometry>
        <mesh filename="package://pr2_description/meshes/forearm_v0/wrist_flex.dae"/>
      </geometry>
      <material name="Grey"/>
    </visual>
    <collision>
      <origin rpy="0 0 0" xyz="0 0 0"/>
      <geometry>
        <mesh filename="package://pr2_description/meshes/forearm_v0/wrist_flex.stl"/>
      </geometry>
    </collision>
  </link>
  <joint name="r_wrist_roll_joint" type="continuous">
    <axis xyz="1 0 0"/>
    <limit effort="10" velocity="3.6"/>
    <!-- alpha tested velocity and effort limits -->
    <safety_controller k_velocity="2"/>
    <dynamics damping="0.1"/>
    <calibration rising="-1.57079632679"/>
    <origin rpy="0 0 0" xyz="0 0 0"/>
    <parent link="r_wrist_flex_link"/>
    <child link="r_wrist_roll_link"/>
  </joint>
  <link name="r_wrist_roll_link">
    <inertial>
      <!-- dummy masses, to be removed.  wrist roll masses are on "gripper_palm" -->
      <mass value="0.1"/>
      <origin xyz="0 0 0"/>
      <inertia ixx="0.01" ixy="0" ixz="0" iyy="0.01" iyz="0" izz="0.01"/>
    </inertial>
    <visual>
      <origin rpy="0 0 0" xyz="0 0 0"/>
      <geometry>
        <mesh filename="package://pr2_description/meshes/forearm_v0/wrist_roll.stl"/>
      </geometry>
      <material name="RollLinks"/>
    </visual>
    <collision>
      <origin rpy="0 0 0" xyz="0 0 0"/>
      <geometry>
        <mesh filename="package://pr2_description/meshes/forearm_v0/wrist_roll_L.stl"/>
      </geometry>
    </collision>
  </link>
  <gazebo reference="r_forearm_link">
    <turnGravityOff>true</turnGravityOff>
  </gazebo>
  <gazebo reference="r_wrist_flex_link">
    <turnGravityOff>true</turnGravityOff>
  </gazebo>
  <gazebo reference="r_wrist_flex_joint">
    <stopKd value="1.0"/>
    <stopKp value="1000000.0"/>
  </gazebo>
  <gazebo reference="r_wrist_roll_link">
    <turnGravityOff>true</turnGravityOff>
    <material value="PR2/RollLinks"/>
  </gazebo>
  <gazebo reference="r_wrist_roll_joint">
    <fudgeFactor value="0.5"/>
  </gazebo>
  <transmission name="r_wrist_trans" type="pr2_mechanism_model/WristTransmission">
    <rightActuator mechanicalReduction="60.1714285714" name="r_wrist_r_motor"/>
    <leftActuator mechanicalReduction="60.1714285714" name="r_wrist_l_motor"/>
    <flexJoint mechanicalReduction="-1.0" name="r_wrist_flex_joint"/>
    <rollJoint mechanicalReduction="1.0" name="r_wrist_roll_joint"/>
  </transmission>
  <joint name="r_gripper_palm_joint" type="fixed">
    <origin rpy="0 0 0" xyz="0 0 0"/>
    <parent link="r_wrist_roll_link"/>
    <child link="r_gripper_palm_link"/>
  </joint>
  <link name="r_gripper_palm_link">
    <inertial>
      <mass value="0.58007"/>
      <origin rpy="0 0 0" xyz="0.06623 0.00053 -0.00119"/>
      <inertia ixx="0.00035223921" ixy="-0.00001580476" ixz="-0.00000091750" iyy="0.00067741312" iyz="-0.00000059554" izz="0.00086563316"/>
    </inertial>
    <visual>
      <origin rpy="0 0 0" xyz="0 0 0"/>
      <geometry>
        <mesh filename="package://pr2_description/meshes/gripper_v0/gripper_palm.dae"/>
      </geometry>
      <material name="Red"/>
    </visual>
    <collision>
      <origin rpy="0 0 0" xyz="0 0 0"/>
      <geometry>
        <mesh filename="package://pr2_description/meshes/gripper_v0/gripper_palm.stl"/>
      </geometry>
    </collision>
  </link>
  <joint name="r_gripper_led_joint" type="fixed">
    <!--  Need to check if we need a positive or negative Z term -->
    <origin xyz="0.0513 0.0 .0244"/>
    <parent link="r_gripper_palm_link"/>
    <child link="r_gripper_led_frame"/>
  </joint>
  <link name="r_gripper_led_frame"/>
  <joint name="r_gripper_motor_accelerometer_joint" type="fixed">
    <origin rpy="0 0 0" xyz="0 0 0"/>
    <parent link="r_gripper_palm_link"/>
    <child link="r_gripper_motor_accelerometer_link"/>
  </joint>
  <link name="r_gripper_motor_accelerometer_link">
    <inertial>
      <mass value="0.001"/>
      <origin rpy="0 0 0" xyz="0 0 0"/>
      <inertia ixx="0.001" ixy="0.0" ixz="0.0" iyy="0.001" iyz="0.0" izz="0.001"/>
    </inertial>
    <visual>
      <origin rpy="0 0 0" xyz="0 0 0"/>
      <geometry>
        <box size="0.001 0.001 0.001"/>
      </geometry>
    </visual>
    <collision>
      <origin rpy="0 0 0" xyz="0 0 0"/>
      <geometry>
        <box size="0.001 0.001 0.001"/>
      </geometry>
    </collision>
  </link>
  <joint name="r_gripper_tool_joint" type="fixed">
    <origin rpy="0 0 0" xyz="0.18 0 0"/>
    <parent link="r_gripper_palm_link"/>
    <child link="r_gripper_tool_frame"/>
  </joint>
  <link name="r_gripper_tool_frame"/>
  <link name="r_gripper_motor_slider_link">
    <inertial>
      <mass value="0.01"/>
      <origin rpy="0 0 0" xyz="0 0 0"/>
      <inertia ixx="0.001" ixy="0.0" ixz="0.0" iyy="0.001" iyz="0.0" izz="0.001"/>
    </inertial>
    <!-- for debugging only
      <visual>
        <origin xyz="0 0 0" rpy="1.5708 0 0" />
        <geometry>
          <cylinder length="0.002" radius="0.025"/>
        </geometry>
      </visual>
      <collision>
        <origin xyz="0 0 0" rpy="1.5708 0 0" />
        <geometry>
          <cylinder length="0.002" radius="0.025"/>
        </geometry>
      </collision>
      -->
  </link>
  <joint name="r_gripper_motor_slider_joint" type="prismatic">
    <origin rpy="0 0 0" xyz="0.16828 0 0"/>
    <axis xyz="1 0 0"/>
    <parent link="r_gripper_palm_link"/>
    <child link="r_gripper_motor_slider_link"/>
    <limit effort="1000.0" lower="-0.1" upper="0.1" velocity="0.2"/>
  </joint>
  <link name="r_gripper_motor_screw_link">
    <inertial>
      <mass value="0.01"/>
      <origin rpy="0 0 0" xyz="0 0 0"/>
      <inertia ixx="0.0001" ixy="0.0" ixz="0.0" iyy="0.0001" iyz="0.0" izz="0.0001"/>
    </inertial>
    <!-- for debugging only
      <visual>
        <origin xyz="0 0 0" rpy="0 0 0" />
        <geometry>
          <box size="0.05 0.001 0.05" />
        </geometry>
      </visual>
      <collision>
        <origin xyz="0 0 0" rpy="0 0 0" />
        <geometry>
          <box size="0.05 0.001 0.05" />
        </geometry>
      </collision>
      -->
  </link>
  <joint name="r_gripper_motor_screw_joint" type="continuous">
    <origin rpy="0 0 0" xyz="0.0 0 0"/>
    <axis xyz="0 1 0"/>
    <parent link="r_gripper_motor_slider_link"/>
    <child link="r_gripper_motor_screw_link"/>
    <dynamics damping="0.0001"/>
  </joint>
  <joint name="r_gripper_l_finger_joint" type="revolute">
    <axis xyz="0 0 1"/>
    <limit effort="1000.0" lower="0.0" upper="0.548" velocity="0.5"/>
    <dynamics damping="0.02"/>
    <origin rpy="0 0 0" xyz="0.07691 0.01 0"/>
    <parent link="r_gripper_palm_link"/>
    <child link="r_gripper_l_finger_link"/>
  </joint>
  <link name="r_gripper_l_finger_link">
    <inertial>
      <mass value="0.17126"/>
      <origin rpy="0 0 0" xyz="0.03598 0.01730 -0.00164"/>
      <inertia ixx="0.00007756198" ixy="0.00000149095" ixz="-0.00000983385" iyy="0.00019708305" iyz="-0.00000306125" izz="0.00018105446"/>
    </inertial>
    <visual>
      <origin rpy="0 0 0" xyz="0 0 0"/>
      <geometry>
        <mesh filename="package://pr2_description/meshes/gripper_v0/l_finger.dae"/>
      </geometry>
      <material name="Grey"/>
    </visual>
    <collision>
      <origin rpy="0 0 0" xyz="0 0 0"/>
      <geometry>
        <mesh filename="package://pr2_description/meshes/gripper_v0/l_finger.stl"/>
      </geometry>
    </collision>
  </link>
  <joint name="r_gripper_r_finger_joint" type="revolute">
    <axis xyz="0 0 -1"/>
    <origin rpy="0 0 0" xyz="0.07691 -0.01 0"/>
    <limit effort="1000.0" lower="0.0" upper="0.548" velocity="0.5"/>
    <dynamics damping="0.02"/>
    <mimic joint="r_gripper_l_finger_joint" multiplier="1" offset="0"/>
    <parent link="r_gripper_palm_link"/>
    <child link="r_gripper_r_finger_link"/>
  </joint>
  <link name="r_gripper_r_finger_link">
    <inertial>
      <mass value="0.17389"/>
      <origin rpy="0 0 0" xyz="0.03576 -0.01736 -0.00095"/>
      <inertia ixx="0.00007738410" ixy="-0.00000209309" ixz="-0.00000836228" iyy="0.00019847383" iyz="0.00000246110" izz="0.00018106988"/>
    </inertial>
    <visual>
      <origin rpy="3.14159265359 0 0" xyz="0 0 0"/>
      <geometry>
        <mesh filename="package://pr2_description/meshes/gripper_v0/l_finger.dae"/>
      </geometry>
      <material name="Grey"/>
    </visual>
    <collision>
      <origin rpy="3.14159265359 0 0" xyz="0 0 0"/>
      <geometry>
        <mesh filename="package://pr2_description/meshes/gripper_v0/l_finger.stl"/>
      </geometry>
    </collision>
  </link>
  <joint name="r_gripper_l_finger_tip_joint" type="revolute">
    <axis xyz="0 0 -1"/>
    <origin rpy="0 0 0" xyz="0.09137 0.00495 0"/>
    <limit effort="1000.0" lower="0.0" upper="0.548" velocity="0.5"/>
    <dynamics damping="0.001"/>
    <mimic joint="r_gripper_l_finger_joint" multiplier="1" offset="0"/>
    <parent link="r_gripper_l_finger_link"/>
    <child link="r_gripper_l_finger_tip_link"/>
  </joint>
  <link name="r_gripper_l_finger_tip_link">
    <inertial>
      <mass value="0.04419"/>
      <origin rpy="0 0 0" xyz="0.00423 0.00284 0.0"/>
      <inertia ixx="0.00000837047" ixy="0.00000583632" ixz="0.0" iyy="0.00000987067" iyz="0.0" izz="0.00001541768"/>
    </inertial>
    <visual>
      <origin rpy="0 0 0" xyz="0 0 0"/>
      <geometry>
        <mesh filename="package://pr2_description/meshes/gripper_v0/l_finger_tip.dae"/>
      </geometry>
      <material name="Green"/>
    </visual>
    <collision>
      <origin rpy="0 0 0" xyz="0 0 0"/>
      <geometry>
        <mesh filename="package://pr2_description/meshes/gripper_v0/l_finger_tip.stl"/>
      </geometry>
    </collision>
  </link>
  <joint name="r_gripper_r_finger_tip_joint" type="revolute">
    <axis xyz="0 0 1"/>
    <origin rpy="0 0 0" xyz="0.09137 -0.00495 0"/>
    <limit effort="1000.0" lower="0.0" upper="0.548" velocity="0.5"/>
    <dynamics damping="0.001"/>
    <mimic joint="r_gripper_l_finger_joint" multiplier="1" offset="0"/>
    <parent link="r_gripper_r_finger_link"/>
    <child link="r_gripper_r_finger_tip_link"/>
  </joint>
  <link name="r_gripper_r_finger_tip_link">
    <inertial>
      <mass value="0.04419"/>
      <origin rpy="0 0 0" xyz="0.00423 -0.00284 0.0"/>
      <inertia ixx="0.00000837047" ixy="-0.00000583632" ixz="0.0" iyy="0.00000987067" iyz="0.0" izz="0.00001541768"/>
    </inertial>
    <visual>
      <origin rpy="3.14159265359 0 0" xyz="0 0 0"/>
      <geometry>
        <mesh filename="package://pr2_description/meshes/gripper_v0/l_finger_tip.dae"/>
      </geometry>
      <material name="Green"/>
    </visual>
    <collision>
      <origin rpy="3.14159265359 0 0" xyz="0 0 0"/>
      <geometry>
        <mesh filename="package://pr2_description/meshes/gripper_v0/l_finger_tip.stl"/>
      </geometry>
    </collision>
  </link>
  <gazebo reference="r_gripper_l_finger_link">
    <turnGravityOff>true</turnGravityOff>
    <mu1 value="500.0"/>
    <mu2 value="500.0"/>
    <kp value="1000000.0"/>
    <kd value="1.0"/>
    <!-- for "${prefix}_l_finger_joint"-->
  </gazebo>
  <gazebo reference="r_gripper_l_finger_joint">
    <stopKd value="1.0"/>
    <stopKp value="10000000.0"/>
    <fudgeFactor value="1.0"/>
    <provideFeedback value="true"/>
  </gazebo>
  <gazebo reference="r_gripper_r_finger_link">
    <turnGravityOff>true</turnGravityOff>
    <mu1 value="500.0"/>
    <mu2 value="500.0"/>
    <kp value="1000000.0"/>
    <kd value="1.0"/>
  </gazebo>
  <gazebo reference="r_gripper_r_finger_joint">
    <stopKd value="1.0"/>
    <stopKp value="10000000.0"/>
    <fudgeFactor value="1.0"/>
    <provideFeedback value="true"/>
  </gazebo>
  <gazebo reference="r_gripper_l_finger_tip_link">
    <turnGravityOff>true</turnGravityOff>
    <selfCollide>false</selfCollide>
    <sensor name="r_gripper_l_finger_tip_contact_sensor" type="contact">
      <update_rate>100.0</update_rate>
      <contact>
        <collision>r_gripper_l_finger_tip_link_geom</collision>
      </contact>
      <plugin filename="libgazebo_ros_bumper.so" name="r_gripper_l_finger_tip_gazebo_ros_bumper_controller">
        <alwaysOn>true</alwaysOn>
        <frameName>r_gripper_l_finger_tip_link</frameName>
        <updateRate>100.0</updateRate>
        <bumperTopicName>r_gripper_l_finger_tip_bumper</bumperTopicName>
      </plugin>
    </sensor>
    <mu1 value="500.0"/>
    <mu2 value="500.0"/>
    <kp value="10000000.0"/>
    <kd value="1.0"/>
  </gazebo>
  <gazebo reference="r_gripper_l_finger_tip_joint">
    <stopKd value="1.0"/>
    <stopKp value="10000000.0"/>
    <fudgeFactor value="1.0"/>
    <provideFeedback value="true"/>
  </gazebo>
  <gazebo reference="r_gripper_r_finger_tip_link">
    <turnGravityOff>true</turnGravityOff>
    <selfCollide>false</selfCollide>
    <sensor name="r_gripper_r_finger_tip_contact_sensor" type="contact">
      <update_rate>100.0</update_rate>
      <contact>
        <collision>r_gripper_r_finger_tip_link_geom</collision>
      </contact>
      <plugin filename="libgazebo_ros_bumper.so" name="r_gripper_r_finger_tip_gazebo_ros_bumper_controller">
        <alwaysOn>true</alwaysOn>
        <frameName>r_gripper_r_finger_tip_link</frameName>
        <updateRate>100.0</updateRate>
        <bumperTopicName>r_gripper_r_finger_tip_bumper</bumperTopicName>
      </plugin>
    </sensor>
    <mu1 value="500.0"/>
    <mu2 value="500.0"/>
    <kp value="10000000.0"/>
    <kd value="1.0"/>
  </gazebo>
  <gazebo>
    <plugin filename="libgazebo_ros_p3d.so" name="p3d_r_gripper_l_finger_controller">
      <alwaysOn>true</alwaysOn>
      <updateRate>100.0</updateRate>
      <bodyName>r_gripper_l_finger_link</bodyName>
      <topicName>r_gripper_l_finger_pose_ground_truth</topicName>
      <gaussianNoise>0.0</gaussianNoise>
      <frameName>base_link</frameName>
    </plugin>
    <plugin filename="libgazebo_ros_f3d.so" name="f3d_r_gripper_l_finger_controller">
      <alwaysOn>true</alwaysOn>
      <updateRate>100.0</updateRate>
      <bodyName>r_gripper_l_finger_link</bodyName>
      <topicName>r_gripper_l_finger_force_ground_truth</topicName>
      <frameName>r_gripper_l_finger_link</frameName>
    </plugin>
  </gazebo>
  <gazebo reference="r_gripper_r_finger_tip_joint">
    <stopKd value="1.0"/>
    <stopKp value="10000000.0"/>
    <fudgeFactor value="1.0"/>
    <provideFeedback value="true"/>
  </gazebo>
  <gazebo>
    <link name="r_gripper_l_parallel_link">
      <inertial>
        <mass>0.17126</mass>
        <inertia>
          <ixx>7.7562e-05</ixx>
          <ixy>1.49095e-06</ixy>
          <ixz>-9.83385e-06</ixz>
          <iyy>0.000197083</iyy>
          <iyz>-3.06125e-06</iyz>
          <izz>0.000181054</izz>
        </inertia>
        <pose>0.03598 0.0173 -0.00164 0 0 0</pose>
      </inertial>
      <pose>0.82991 -0.157 0.790675 0 -0 0</pose>
      <gravity>false</gravity>
    </link>
    <link name="r_gripper_r_parallel_link">
      <inertial>
        <mass>0.17389</mass>
        <inertia>
          <ixx>7.73841e-05</ixx>
          <ixy>-2.09309e-06</ixy>
          <ixz>-8.36228e-06</ixz>
          <iyy>0.000198474</iyy>
          <iyz>2.4611e-06</iyz>
          <izz>0.00018107</izz>
        </inertia>
        <pose>0.03576 -0.01736 -0.00095 0 0 0</pose>
      </inertial>
      <pose>0.82991 -0.219 0.790675 0 0 0</pose>
      <gravity>false</gravity>
    </link>
  </gazebo>
  <gazebo>
    <joint name="r_gripper_r_screw_screw_joint" type="screw">
      <child>r_gripper_motor_screw_link</child>
      <parent>r_gripper_r_finger_tip_link</parent>
      <thread_pitch>-3141.6</thread_pitch>
      <axis>
        <xyz>0 1 0</xyz>
      </axis>
    </joint>
    <joint name="r_gripper_l_screw_screw_joint" type="screw">
      <parent>r_gripper_l_finger_tip_link</parent>
      <child>r_gripper_motor_screw_link</child>
      <thread_pitch>3141.6</thread_pitch>
      <axis>
        <xyz>0 1 0</xyz>
      </axis>
    </joint>
  </gazebo>
  <gazebo>
    <joint name="r_gripper_r_parallel_root_joint" type="revolute">
      <parent>r_gripper_r_parallel_link</parent>
      <child>r_gripper_palm_link</child>
      <axis>
        <xyz>0 0 -1</xyz>
        <dynamics>
          <damping>0.2</damping>
        </dynamics>
      </axis>
      <pose>0.05891 -0.031 0 0 0 0</pose>
    </joint>
    <joint name="r_gripper_l_parallel_root_joint" type="revolute">
      <parent>r_gripper_l_parallel_link</parent>
      <child>r_gripper_palm_link</child>
      <axis>
        <xyz>0 0 1</xyz>
        <dynamics>
          <damping>0.2</damping>
        </dynamics>
      </axis>
      <pose>0.05891 0.031 0 0 0 0</pose>
    </joint>
    <joint name="r_gripper_r_parallel_tip_joint" type="revolute">
      <parent>r_gripper_r_parallel_link</parent>
      <child>r_gripper_r_finger_tip_link</child>
      <axis>
        <xyz>0 0 1</xyz>
      </axis>
      <pose>-0.018 -0.021 0 0 0 0</pose>
    </joint>
    <joint name="r_gripper_l_parallel_tip_joint" type="revolute">
      <parent>r_gripper_l_parallel_link</parent>
      <child>r_gripper_l_finger_tip_link</child>
      <axis>
        <xyz>0 0 1</xyz>
      </axis>
      <pose>-0.018 0.021 0 0 0 0</pose>
    </joint>
    <joint name="r_gripper_joint" type="prismatic">
      <parent>r_gripper_r_finger_tip_link</parent>
      <child>r_gripper_l_finger_tip_link</child>
      <axis>
        <xyz>0 1 0</xyz>
      </axis>
    </joint>
  </gazebo>
  <gazebo reference="r_gripper_motor_slider_link">
    <turnGravityOff>true</turnGravityOff>
    <material value="PR2/Red"/>
  </gazebo>
  <gazebo reference="r_gripper_motor_screw_link">
    <turnGravityOff>true</turnGravityOff>
    <material value="PR2/Red"/>
  </gazebo>
  <gazebo reference="r_gripper_l_parallel_link">
    <turnGravityOff>true</turnGravityOff>
    <material value="PR2/Red"/>
  </gazebo>
  <gazebo reference="r_gripper_r_parallel_link">
    <turnGravityOff>true</turnGravityOff>
    <material value="PR2/Red"/>
  </gazebo>
  <joint name="r_gripper_joint" type="prismatic">
    <parent link="r_gripper_r_finger_tip_link"/>
    <child link="r_gripper_l_finger_tip_frame"/>
    <axis xyz="0 1 0"/>
    <dynamics damping="10.0"/>
    <limit effort="1000.0" lower="0.0" upper="0.09" velocity="0.2"/>
    <safety_controller k_position="20.0" k_velocity="5000.0" soft_lower_limit="-0.01" soft_upper_limit="0.088"/>
  </joint>
  <link name="r_gripper_l_finger_tip_frame"/>
  <gazebo reference="r_gripper_palm_link">
    <turnGravityOff>true</turnGravityOff>
  </gazebo>
  <gazebo>
    <plugin filename="libgazebo_ros_p3d.so" name="p3d_r_gripper_palm_controller">
      <alwaysOn>true</alwaysOn>
      <updateRate>100.0</updateRate>
      <bodyName>r_gripper_palm_link</bodyName>
      <topicName>r_gripper_palm_pose_ground_truth</topicName>
      <xyzOffsets>0 0 0</xyzOffsets>
      <rpyOffsets>0 0 0</rpyOffsets>
      <gaussianNoise>0.0</gaussianNoise>
      <frameName>map</frameName>
    </plugin>
    <!-- a formal implementation of grasp hack in gazebo with fixed joint -->
    <gripper name="r_grasp_hack">
      <grasp_check attach_steps="20" detach_steps="40" min_contact_count="2"/>
      <gripper_link>r_gripper_r_finger_tip_link</gripper_link>
      <gripper_link>r_gripper_l_finger_tip_link</gripper_link>
      <palm_link>r_gripper_palm_link</palm_link>
    </gripper>
  </gazebo>
  <transmission name="r_gripper_trans" type="pr2_mechanism_model/PR2GripperTransmission">
    <actuator name="r_gripper_motor"/>
    <gap_joint L0="0.0375528" a="0.0683698" b="0.0433849" gear_ratio="40.095" h="0.0" mechanical_reduction="1.0" name="r_gripper_joint" phi0="0.518518122146" r="0.0915" screw_reduction="0.004" t0="-0.0001914" theta0="0.0628824676201"/>
    <!-- if a gazebo joint exists as [l|r]_gripper_joint, use this tag to have
           gripper transmission apply torque directly to prismatic joint
           this should be the default behavior in diamondback, deprecating this flag -->
    <use_simulated_gripper_joint/>
    <!-- set passive joint angles so things look nice in rviz -->
    <passive_joint name="r_gripper_l_finger_joint"/>
    <passive_joint name="r_gripper_r_finger_joint"/>
    <passive_joint name="r_gripper_r_finger_tip_joint"/>
    <passive_joint name="r_gripper_l_finger_tip_joint"/>
    <!-- screw joint to capture gripper "dynamics" -->
    <simulated_actuated_joint name="r_gripper_motor_screw_joint" passive_actuated_joint="r_gripper_motor_slider_joint" simulated_reduction="3141.6"/>
  </transmission>
  <joint name="l_shoulder_pan_joint" type="revolute">
    <axis xyz="0 0 1"/>
    <origin rpy="0 0 0" xyz="0.0 0.188 0.0"/>
    <!-- transform from parent link to this joint frame -->
    <parent link="torso_lift_link"/>
    <child link="l_shoulder_pan_link"/>
    <limit effort="30" lower="-0.714601836603" upper="2.2853981634" velocity="2.088"/>
    <!-- alpha tested velocity and effort limits -->
    <dynamics damping="10.0"/>
    <safety_controller k_position="100" k_velocity="10" soft_lower_limit="-0.564601836603" soft_upper_limit="2.1353981634"/>
    <!-- joint angle when the rising or the falling flag is activated on PR2 -->
    <calibration rising="0.785398163397"/>
  </joint>
  <link name="l_shoulder_pan_link">
    <inertial>
      <mass value="25.799322"/>
      <origin rpy="0 0 0" xyz="-0.001201 0.024513 -0.098231"/>
      <inertia ixx="0.866179142480" ixy="-0.06086507933" ixz="-0.12118061183" iyy="0.87421714893" iyz="-0.05886609911" izz="0.27353821674"/>
    </inertial>
    <visual>
      <origin rpy="0 0 0" xyz="0 0 0"/>
      <geometry>
        <mesh filename="package://pr2_description/meshes/shoulder_v0/shoulder_pan.dae"/>
      </geometry>
      <material name="Blue"/>
    </visual>
    <collision>
      <origin rpy="0 0 0" xyz="0.0 0 0.0"/>
      <geometry>
        <mesh filename="package://pr2_description/meshes/shoulder_v0/shoulder_pan.stl"/>
      </geometry>
    </collision>
  </link>
  <joint name="l_shoulder_lift_joint" type="revolute">
    <axis xyz="0 1 0"/>
    <!-- Limits updated from Function's CAD values as of 2009_02_24 (link_data.xls) -->
    <limit effort="30" lower="-0.5236" upper="1.3963" velocity="2.082"/>
    <!-- alpha tested velocity and effort limits -->
    <safety_controller k_position="100" k_velocity="10" soft_lower_limit="-0.3536" soft_upper_limit="1.2963"/>
    <calibration falling="0.0"/>
    <dynamics damping="10.0"/>
    <origin rpy="0 0 0" xyz="0.1 0 0"/>
    <parent link="l_shoulder_pan_link"/>
    <child link="l_shoulder_lift_link"/>
  </joint>
  <link name="l_shoulder_lift_link">
    <inertial>
      <mass value="2.74988"/>
      <origin rpy="0 0 0" xyz="0.02195 -0.02664 -0.03127"/>
      <inertia ixx="0.02105584615" ixy="0.00496704022" ixz="-0.00194808955" iyy="0.02127223737" iyz="0.00110425490" izz="0.01975753814"/>
    </inertial>
    <visual>
      <origin rpy="0 0 0" xyz="0 0 0"/>
      <geometry>
        <mesh filename="package://pr2_description/meshes/shoulder_v0/shoulder_lift.dae"/>
      </geometry>
      <material name="Grey"/>
    </visual>
    <collision>
      <origin rpy="0 0 0" xyz="0 0 0"/>
      <geometry>
        <mesh filename="package://pr2_description/meshes/shoulder_v0/shoulder_lift.stl"/>
      </geometry>
    </collision>
  </link>
  <joint name="l_upper_arm_roll_joint" type="revolute">
    <axis xyz="1 0 0"/>
    <origin rpy="0 0 0" xyz="0 0 0"/>
    <parent link="l_shoulder_lift_link"/>
    <child link="l_upper_arm_roll_link"/>
    <limit effort="30" lower="-0.8" upper="3.9" velocity="3.27"/>
    <!-- alpha tested velocity and effort limits -->
    <safety_controller k_position="100" k_velocity="2" soft_lower_limit="-0.65" soft_upper_limit="3.75"/>
    <calibration rising="1.57079632679"/>
    <dynamics damping="0.1"/>
  </joint>
  <link name="l_upper_arm_roll_link">
    <inertial>
      <!-- dummy mass, to be removed -->
      <mass value="0.1"/>
      <origin rpy="0 0 0" xyz="0.0 0 0"/>
      <inertia ixx="0.01" ixy="0.00" ixz="0.00" iyy="0.01" iyz="0.00" izz="0.01"/>
    </inertial>
    <visual>
      <!-- TODO: This component doesn't actually have a mesh -->
      <origin rpy="0 0 0" xyz="0 0 0"/>
      <geometry>
        <mesh filename="package://pr2_description/meshes/shoulder_v0/upper_arm_roll.stl"/>
      </geometry>
      <material name="RollLinks"/>
    </visual>
    <collision>
      <origin rpy="0 0 0" xyz="0 0 0"/>
      <geometry>
        <mesh filename="package://pr2_description/meshes/shoulder_v0/upper_arm_roll_L.stl"/>
      </geometry>
    </collision>
  </link>
  <gazebo reference="l_upper_arm_roll_link">
    <material value="PR2/RollLinks"/>
    <turnGravityOff>true</turnGravityOff>
  </gazebo>
  <gazebo reference="l_upper_arm_roll_joint">
    <stopKd value="1.0"/>
    <stopKp value="1000000.0"/>
    <fudgeFactor value="0.5"/>
  </gazebo>
  <transmission name="l_upper_arm_roll_trans" type="pr2_mechanism_model/SimpleTransmission">
    <actuator name="l_upper_arm_roll_motor"/>
    <joint name="l_upper_arm_roll_joint"/>
    <mechanicalReduction>32.6525111499</mechanicalReduction>
  </transmission>
  <gazebo reference="l_shoulder_pan_link">
    <turnGravityOff>true</turnGravityOff>
  </gazebo>
  <gazebo reference="l_shoulder_pan_joint">
    <stopKd value="1.0"/>
    <stopKp value="1000000.0"/>
  </gazebo>
  <gazebo reference="l_shoulder_lift_link">
    <turnGravityOff>true</turnGravityOff>
  </gazebo>
  <gazebo reference="l_shoulder_lift_joint">
    <stopKd value="1.0"/>
    <stopKp value="1000000.0"/>
  </gazebo>
  <transmission name="l_shoulder_pan_trans" type="pr2_mechanism_model/SimpleTransmission">
    <joint name="l_shoulder_pan_joint"/>
    <actuator name="l_shoulder_pan_motor"/>
    <mechanicalReduction>63.1552452977</mechanicalReduction>
    <compensator k_belt="4000.0" kd_motor="15.0" lambda_combined="0.0" lambda_joint="40.0" lambda_motor="40.0" mass_motor="0.05"/>
  </transmission>
  <transmission name="l_shoulder_lift_trans" type="pr2_mechanism_model/SimpleTransmission">
    <joint name="l_shoulder_lift_joint"/>
    <actuator name="l_shoulder_lift_motor"/>
    <mechanicalReduction>61.8948225713</mechanicalReduction>
    <compensator k_belt="4000.0" kd_motor="10.0" lambda_combined="0.0" lambda_joint="60.0" lambda_motor="60.0" mass_motor="0.05"/>
  </transmission>
  <joint name="l_upper_arm_joint" type="fixed">
    <origin rpy="0 0 0" xyz="0 0 0"/>
    <parent link="l_upper_arm_roll_link"/>
    <child link="l_upper_arm_link"/>
  </joint>
  <link name="l_upper_arm_link">
    <inertial>
      <!-- NOTE:reflect==-1 for right side, reflect==1 for the left side -->
      <mass value="6.01769"/>
      <origin xyz="0.21405 0.01658 -0.00057"/>
      <inertia ixx="0.01530603856" ixy="-0.00339324862" ixz="0.00060765455" iyy="0.07473694455" iyz="-0.00019953729" izz="0.07601594191"/>
    </inertial>
    <visual>
      <origin rpy="0 0 0" xyz="0 0 0"/>
      <geometry>
        <mesh filename="package://pr2_description/meshes/upper_arm_v0/upper_arm.dae"/>
      </geometry>
      <material name="Green"/>
    </visual>
    <collision>
      <origin rpy="0 0 0" xyz="0 0 0"/>
      <geometry>
        <mesh filename="package://pr2_description/meshes/upper_arm_v0/upper_arm.stl"/>
      </geometry>
    </collision>
  </link>
  <gazebo reference="l_upper_arm_link">
    <turnGravityOff>true</turnGravityOff>
  </gazebo>
  <joint name="l_forearm_roll_joint" type="continuous">
    <axis xyz="1 0 0"/>
    <limit effort="30" velocity="3.6"/>
    <!-- alpha tested velocity and effort limits -->
    <safety_controller k_velocity="1"/>
    <calibration rising="0.0"/>
    <dynamics damping="0.1"/>
    <origin rpy="0 0 0" xyz="0 0 0"/>
    <parent link="l_elbow_flex_link"/>
    <child link="l_forearm_roll_link"/>
  </joint>
  <link name="l_forearm_roll_link">
    <inertial>
      <!-- dummy masses, to be removed -->
      <mass value="0.1"/>
      <origin xyz="0 0 0"/>
      <inertia ixx="0.01" ixy="0.00" ixz="0.00" iyy="0.01" iyz="0.00" izz="0.01"/>
    </inertial>
    <visual>
      <origin rpy="0 0 0" xyz="0 0 0"/>
      <geometry>
        <mesh filename="package://pr2_description/meshes/upper_arm_v0/forearm_roll.stl"/>
      </geometry>
      <material name="RollLinks"/>
    </visual>
    <!-- TODO: collision tag should be optional -->
    <collision>
      <origin rpy="0 0 0" xyz="0 0 0"/>
      <geometry>
        <mesh filename="package://pr2_description/meshes/upper_arm_v0/forearm_roll_L.stl"/>
      </geometry>
    </collision>
  </link>
  <gazebo reference="l_forearm_roll_link">
    <material value="PR2/RollLinks"/>
    <turnGravityOff>true</turnGravityOff>
  </gazebo>
  <gazebo reference="l_forearm_roll_joint">
    <fudgeFactor value="0.5"/>
  </gazebo>
  <transmission name="l_forearm_roll_trans" type="pr2_mechanism_model/SimpleTransmission">
    <actuator name="l_forearm_roll_motor"/>
    <joint name="l_forearm_roll_joint"/>
    <mechanicalReduction>-90.5142857143</mechanicalReduction>
  </transmission>
  <joint name="l_elbow_flex_joint" type="revolute">
    <axis xyz="0 1 0"/>
    <!-- Note: Overtravel limits are 140, -7 degrees instead of 133, 0 -->
    <limit effort="30" lower="-2.3213" upper="0.00" velocity="3.3"/>
    <!-- alpha tested velocity and effort limits -->
    <safety_controller k_position="100" k_velocity="3" soft_lower_limit="-2.1213" soft_upper_limit="-0.15"/>
    <calibration falling="-1.1606"/>
    <dynamics damping="1.0"/>
    <origin rpy="0 0 0" xyz="0.4 0 0"/>
    <parent link="l_upper_arm_link"/>
    <child link="l_elbow_flex_link"/>
  </joint>
  <link name="l_elbow_flex_link">
    <inertial>
      <mass value="1.90327"/>
      <origin xyz="0.01014 0.00032 -0.01211"/>
      <inertia ixx="0.00346541989" ixy="0.00004066825" ixz="0.00043171614" iyy="0.00441606455" iyz="-0.00003968914" izz="0.00359156824"/>
    </inertial>
    <visual>
      <origin rpy="0 0 0" xyz="0 0 0"/>
      <geometry>
        <mesh filename="package://pr2_description/meshes/upper_arm_v0/elbow_flex.dae"/>
      </geometry>
      <material name="Grey"/>
    </visual>
    <collision>
      <origin rpy="0 0 0" xyz="0 0 0"/>
      <geometry>
        <mesh filename="package://pr2_description/meshes/upper_arm_v0/elbow_flex.stl"/>
      </geometry>
    </collision>
  </link>
  <gazebo reference="l_elbow_flex_joint">
    <initial_joint_position>-1.0</initial_joint_position>
  </gazebo>
  <gazebo reference="l_elbow_flex_link">
    <turnGravityOff>true</turnGravityOff>
  </gazebo>
  <gazebo reference="l_elbow_flex_joint">
    <stopKd value="1.0"/>
    <stopKp value="1000000.0"/>
  </gazebo>
  <transmission name="l_elbow_flex_trans" type="pr2_mechanism_model/SimpleTransmission">
    <actuator name="l_elbow_flex_motor"/>
    <joint name="l_elbow_flex_joint"/>
    <mechanicalReduction>-36.167452007</mechanicalReduction>
  </transmission>
  <joint name="l_forearm_joint" type="fixed">
    <origin rpy="0 0 0" xyz="0 0 0"/>
    <!-- transform from parent link to this joint frame -->
    <parent link="l_forearm_roll_link"/>
    <child link="l_forearm_link"/>
  </joint>
  <link name="l_forearm_link">
    <inertial>
      <mass value="2.57968"/>
      <origin xyz="0.18791 -0.00017 -0.00912"/>
      <inertia ixx="0.00364857222" ixy="0.00005215877" ixz="0.00071534842" iyy="0.01507736897" iyz="-0.00001310770" izz="0.01659310749"/>
    </inertial>
    <visual>
      <origin rpy="0 0 0" xyz="0 0 0"/>
      <geometry>
        <mesh filename="package://pr2_description/meshes/forearm_v0/forearm.dae"/>
      </geometry>
      <material name="Grey"/>
    </visual>
    <collision>
      <origin rpy="0 0 0" xyz="0 0 0"/>
      <geometry>
        <mesh filename="package://pr2_description/meshes/forearm_v0/forearm.stl"/>
      </geometry>
    </collision>
  </link>
  <joint name="l_wrist_flex_joint" type="revolute">
    <axis xyz="0 1 0"/>
    <limit effort="10" lower="-2.18" upper="0.0" velocity="3.078"/>
    <!-- alpha tested velocity and effort limits -->
    <safety_controller k_position="20" k_velocity="4" soft_lower_limit="-2.0" soft_upper_limit="-0.1"/>
    <dynamics damping="0.1"/>
    <calibration falling="-0.5410521"/>
    <origin rpy="0 0 0" xyz="0.321 0 0"/>
    <parent link="l_forearm_link"/>
    <child link="l_wrist_flex_link"/>
  </joint>
  <link name="l_wrist_flex_link">
    <inertial>
      <mass value="0.61402"/>
      <origin xyz="-0.00157 0.0 -0.00075"/>
      <inertia ixx="0.00065165722" ixy="0.00000028864" ixz="0.00000303477" iyy="0.00019824443" iyz="-0.00000022645" izz="0.00064450498"/>
    </inertial>
    <visual>
      <origin rpy="0 0 0" xyz="0 0 0"/>
      <geometry>
        <mesh filename="package://pr2_description/meshes/forearm_v0/wrist_flex.dae"/>
      </geometry>
      <material name="Grey"/>
    </visual>
    <collision>
      <origin rpy="0 0 0" xyz="0 0 0"/>
      <geometry>
        <mesh filename="package://pr2_description/meshes/forearm_v0/wrist_flex.stl"/>
      </geometry>
    </collision>
  </link>
  <joint name="l_wrist_roll_joint" type="continuous">
    <axis xyz="1 0 0"/>
    <limit effort="10" velocity="3.6"/>
    <!-- alpha tested velocity and effort limits -->
    <safety_controller k_velocity="2"/>
    <dynamics damping="0.1"/>
    <calibration rising="-1.57079632679"/>
    <origin rpy="0 0 0" xyz="0 0 0"/>
    <parent link="l_wrist_flex_link"/>
    <child link="l_wrist_roll_link"/>
  </joint>
  <link name="l_wrist_roll_link">
    <inertial>
      <!-- dummy masses, to be removed.  wrist roll masses are on "gripper_palm" -->
      <mass value="0.1"/>
      <origin xyz="0 0 0"/>
      <inertia ixx="0.01" ixy="0" ixz="0" iyy="0.01" iyz="0" izz="0.01"/>
    </inertial>
    <visual>
      <origin rpy="0 0 0" xyz="0 0 0"/>
      <geometry>
        <mesh filename="package://pr2_description/meshes/forearm_v0/wrist_roll.stl"/>
      </geometry>
      <material name="RollLinks"/>
    </visual>
    <collision>
      <origin rpy="0 0 0" xyz="0 0 0"/>
      <geometry>
        <mesh filename="package://pr2_description/meshes/forearm_v0/wrist_roll_L.stl"/>
      </geometry>
    </collision>
  </link>
  <gazebo reference="l_forearm_link">
    <turnGravityOff>true</turnGravityOff>
  </gazebo>
  <gazebo reference="l_wrist_flex_link">
    <turnGravityOff>true</turnGravityOff>
  </gazebo>
  <gazebo reference="l_wrist_flex_joint">
    <stopKd value="1.0"/>
    <stopKp value="1000000.0"/>
  </gazebo>
  <gazebo reference="l_wrist_roll_link">
    <turnGravityOff>true</turnGravityOff>
    <material value="PR2/RollLinks"/>
  </gazebo>
  <gazebo reference="l_wrist_roll_joint">
    <fudgeFactor value="0.5"/>
  </gazebo>
  <transmission name="l_wrist_trans" type="pr2_mechanism_model/WristTransmission">
    <rightActuator mechanicalReduction="60.1714285714" name="l_wrist_r_motor"/>
    <leftActuator mechanicalReduction="60.1714285714" name="l_wrist_l_motor"/>
    <flexJoint mechanicalReduction="-1.0" name="l_wrist_flex_joint"/>
    <rollJoint mechanicalReduction="1.0" name="l_wrist_roll_joint"/>
  </transmission>
  <joint name="l_gripper_palm_joint" type="fixed">
    <origin rpy="0 0 0" xyz="0 0 0"/>
    <parent link="l_wrist_roll_link"/>
    <child link="l_gripper_palm_link"/>
  </joint>
  <link name="l_gripper_palm_link">
    <inertial>
      <mass value="0.58007"/>
      <origin rpy="0 0 0" xyz="0.06623 0.00053 -0.00119"/>
      <inertia ixx="0.00035223921" ixy="-0.00001580476" ixz="-0.00000091750" iyy="0.00067741312" iyz="-0.00000059554" izz="0.00086563316"/>
    </inertial>
    <visual>
      <origin rpy="0 0 0" xyz="0 0 0"/>
      <geometry>
        <mesh filename="package://pr2_description/meshes/gripper_v0/gripper_palm.dae"/>
      </geometry>
      <material name="Red"/>
    </visual>
    <collision>
      <origin rpy="0 0 0" xyz="0 0 0"/>
      <geometry>
        <mesh filename="package://pr2_description/meshes/gripper_v0/gripper_palm.stl"/>
      </geometry>
    </collision>
  </link>
  <joint name="l_gripper_led_joint" type="fixed">
    <!--  Need to check if we need a positive or negative Z term -->
    <origin xyz="0.0513 0.0 .0244"/>
    <parent link="l_gripper_palm_link"/>
    <child link="l_gripper_led_frame"/>
  </joint>
  <link name="l_gripper_led_frame"/>
  <joint name="l_gripper_motor_accelerometer_joint" type="fixed">
    <origin rpy="0 0 0" xyz="0 0 0"/>
    <parent link="l_gripper_palm_link"/>
    <child link="l_gripper_motor_accelerometer_link"/>
  </joint>
  <link name="l_gripper_motor_accelerometer_link">
    <inertial>
      <mass value="0.001"/>
      <origin rpy="0 0 0" xyz="0 0 0"/>
      <inertia ixx="0.001" ixy="0.0" ixz="0.0" iyy="0.001" iyz="0.0" izz="0.001"/>
    </inertial>
    <visual>
      <origin rpy="0 0 0" xyz="0 0 0"/>
      <geometry>
        <box size="0.001 0.001 0.001"/>
      </geometry>
    </visual>
    <collision>
      <origin rpy="0 0 0" xyz="0 0 0"/>
      <geometry>
        <box size="0.001 0.001 0.001"/>
      </geometry>
    </collision>
  </link>
  <joint name="l_gripper_tool_joint" type="fixed">
    <origin rpy="0 0 0" xyz="0.18 0 0"/>
    <parent link="l_gripper_palm_link"/>
    <child link="l_gripper_tool_frame"/>
  </joint>
  <link name="l_gripper_tool_frame"/>
  <link name="l_gripper_motor_slider_link">
    <inertial>
      <mass value="0.01"/>
      <origin rpy="0 0 0" xyz="0 0 0"/>
      <inertia ixx="0.001" ixy="0.0" ixz="0.0" iyy="0.001" iyz="0.0" izz="0.001"/>
    </inertial>
    <!-- for debugging only
      <visual>
        <origin xyz="0 0 0" rpy="1.5708 0 0" />
        <geometry>
          <cylinder length="0.002" radius="0.025"/>
        </geometry>
      </visual>
      <collision>
        <origin xyz="0 0 0" rpy="1.5708 0 0" />
        <geometry>
          <cylinder length="0.002" radius="0.025"/>
        </geometry>
      </collision>
      -->
  </link>
  <joint name="l_gripper_motor_slider_joint" type="prismatic">
    <origin rpy="0 0 0" xyz="0.16828 0 0"/>
    <axis xyz="1 0 0"/>
    <parent link="l_gripper_palm_link"/>
    <child link="l_gripper_motor_slider_link"/>
    <limit effort="1000.0" lower="-0.1" upper="0.1" velocity="0.2"/>
  </joint>
  <link name="l_gripper_motor_screw_link">
    <inertial>
      <mass value="0.01"/>
      <origin rpy="0 0 0" xyz="0 0 0"/>
      <inertia ixx="0.0001" ixy="0.0" ixz="0.0" iyy="0.0001" iyz="0.0" izz="0.0001"/>
    </inertial>
    <!-- for debugging only
      <visual>
        <origin xyz="0 0 0" rpy="0 0 0" />
        <geometry>
          <box size="0.05 0.001 0.05" />
        </geometry>
      </visual>
      <collision>
        <origin xyz="0 0 0" rpy="0 0 0" />
        <geometry>
          <box size="0.05 0.001 0.05" />
        </geometry>
      </collision>
      -->
  </link>
  <joint name="l_gripper_motor_screw_joint" type="continuous">
    <origin rpy="0 0 0" xyz="0.0 0 0"/>
    <axis xyz="0 1 0"/>
    <parent link="l_gripper_motor_slider_link"/>
    <child link="l_gripper_motor_screw_link"/>
    <dynamics damping="0.0001"/>
  </joint>
  <joint name="l_gripper_l_finger_joint" type="revolute">
    <axis xyz="0 0 1"/>
    <limit effort="1000.0" lower="0.0" upper="0.548" velocity="0.5"/>
    <dynamics damping="0.02"/>
    <origin rpy="0 0 0" xyz="0.07691 0.01 0"/>
    <parent link="l_gripper_palm_link"/>
    <child link="l_gripper_l_finger_link"/>
  </joint>
  <link name="l_gripper_l_finger_link">
    <inertial>
      <mass value="0.17126"/>
      <origin rpy="0 0 0" xyz="0.03598 0.01730 -0.00164"/>
      <inertia ixx="0.00007756198" ixy="0.00000149095" ixz="-0.00000983385" iyy="0.00019708305" iyz="-0.00000306125" izz="0.00018105446"/>
    </inertial>
    <visual>
      <origin rpy="0 0 0" xyz="0 0 0"/>
      <geometry>
        <mesh filename="package://pr2_description/meshes/gripper_v0/l_finger.dae"/>
      </geometry>
      <material name="Grey"/>
    </visual>
    <collision>
      <origin rpy="0 0 0" xyz="0 0 0"/>
      <geometry>
        <mesh filename="package://pr2_description/meshes/gripper_v0/l_finger.stl"/>
      </geometry>
    </collision>
  </link>
  <joint name="l_gripper_r_finger_joint" type="revolute">
    <axis xyz="0 0 -1"/>
    <origin rpy="0 0 0" xyz="0.07691 -0.01 0"/>
    <limit effort="1000.0" lower="0.0" upper="0.548" velocity="0.5"/>
    <dynamics damping="0.02"/>
    <mimic joint="l_gripper_l_finger_joint" multiplier="1" offset="0"/>
    <parent link="l_gripper_palm_link"/>
    <child link="l_gripper_r_finger_link"/>
  </joint>
  <link name="l_gripper_r_finger_link">
    <inertial>
      <mass value="0.17389"/>
      <origin rpy="0 0 0" xyz="0.03576 -0.01736 -0.00095"/>
      <inertia ixx="0.00007738410" ixy="-0.00000209309" ixz="-0.00000836228" iyy="0.00019847383" iyz="0.00000246110" izz="0.00018106988"/>
    </inertial>
    <visual>
      <origin rpy="3.14159265359 0 0" xyz="0 0 0"/>
      <geometry>
        <mesh filename="package://pr2_description/meshes/gripper_v0/l_finger.dae"/>
      </geometry>
      <material name="Grey"/>
    </visual>
    <collision>
      <origin rpy="3.14159265359 0 0" xyz="0 0 0"/>
      <geometry>
        <mesh filename="package://pr2_description/meshes/gripper_v0/l_finger.stl"/>
      </geometry>
    </collision>
  </link>
  <joint name="l_gripper_l_finger_tip_joint" type="revolute">
    <axis xyz="0 0 -1"/>
    <origin rpy="0 0 0" xyz="0.09137 0.00495 0"/>
    <limit effort="1000.0" lower="0.0" upper="0.548" velocity="0.5"/>
    <dynamics damping="0.001"/>
    <mimic joint="l_gripper_l_finger_joint" multiplier="1" offset="0"/>
    <parent link="l_gripper_l_finger_link"/>
    <child link="l_gripper_l_finger_tip_link"/>
  </joint>
  <link name="l_gripper_l_finger_tip_link">
    <inertial>
      <mass value="0.04419"/>
      <origin rpy="0 0 0" xyz="0.00423 0.00284 0.0"/>
      <inertia ixx="0.00000837047" ixy="0.00000583632" ixz="0.0" iyy="0.00000987067" iyz="0.0" izz="0.00001541768"/>
    </inertial>
    <visual>
      <origin rpy="0 0 0" xyz="0 0 0"/>
      <geometry>
        <mesh filename="package://pr2_description/meshes/gripper_v0/l_finger_tip.dae"/>
      </geometry>
      <material name="Green"/>
    </visual>
    <collision>
      <origin rpy="0 0 0" xyz="0 0 0"/>
      <geometry>
        <mesh filename="package://pr2_description/meshes/gripper_v0/l_finger_tip.stl"/>
      </geometry>
    </collision>
  </link>
  <joint name="l_gripper_r_finger_tip_joint" type="revolute">
    <axis xyz="0 0 1"/>
    <origin rpy="0 0 0" xyz="0.09137 -0.00495 0"/>
    <limit effort="1000.0" lower="0.0" upper="0.548" velocity="0.5"/>
    <dynamics damping="0.001"/>
    <mimic joint="l_gripper_l_finger_joint" multiplier="1" offset="0"/>
    <parent link="l_gripper_r_finger_link"/>
    <child link="l_gripper_r_finger_tip_link"/>
  </joint>
  <link name="l_gripper_r_finger_tip_link">
    <inertial>
      <mass value="0.04419"/>
      <origin rpy="0 0 0" xyz="0.00423 -0.00284 0.0"/>
      <inertia ixx="0.00000837047" ixy="-0.00000583632" ixz="0.0" iyy="0.00000987067" iyz="0.0" izz="0.00001541768"/>
    </inertial>
    <visual>
      <origin rpy="3.14159265359 0 0" xyz="0 0 0"/>
      <geometry>
        <mesh filename="package://pr2_description/meshes/gripper_v0/l_finger_tip.dae"/>
      </geometry>
      <material name="Green"/>
    </visual>
    <collision>
      <origin rpy="3.14159265359 0 0" xyz="0 0 0"/>
      <geometry>
        <mesh filename="package://pr2_description/meshes/gripper_v0/l_finger_tip.stl"/>
      </geometry>
    </collision>
  </link>
  <gazebo reference="l_gripper_l_finger_link">
    <turnGravityOff>true</turnGravityOff>
    <mu1 value="500.0"/>
    <mu2 value="500.0"/>
    <kp value="1000000.0"/>
    <kd value="1.0"/>
    <!-- for "${prefix}_l_finger_joint"-->
  </gazebo>
  <gazebo reference="l_gripper_l_finger_joint">
    <stopKd value="1.0"/>
    <stopKp value="10000000.0"/>
    <fudgeFactor value="1.0"/>
    <provideFeedback value="true"/>
  </gazebo>
  <gazebo reference="l_gripper_r_finger_link">
    <turnGravityOff>true</turnGravityOff>
    <mu1 value="500.0"/>
    <mu2 value="500.0"/>
    <kp value="1000000.0"/>
    <kd value="1.0"/>
  </gazebo>
  <gazebo reference="l_gripper_r_finger_joint">
    <stopKd value="1.0"/>
    <stopKp value="10000000.0"/>
    <fudgeFactor value="1.0"/>
    <provideFeedback value="true"/>
  </gazebo>
  <gazebo reference="l_gripper_l_finger_tip_link">
    <turnGravityOff>true</turnGravityOff>
    <selfCollide>false</selfCollide>
    <sensor name="l_gripper_l_finger_tip_contact_sensor" type="contact">
      <update_rate>100.0</update_rate>
      <contact>
        <collision>l_gripper_l_finger_tip_link_geom</collision>
      </contact>
      <plugin filename="libgazebo_ros_bumper.so" name="l_gripper_l_finger_tip_gazebo_ros_bumper_controller">
        <alwaysOn>true</alwaysOn>
        <frameName>l_gripper_l_finger_tip_link</frameName>
        <updateRate>100.0</updateRate>
        <bumperTopicName>l_gripper_l_finger_tip_bumper</bumperTopicName>
      </plugin>
    </sensor>
    <mu1 value="500.0"/>
    <mu2 value="500.0"/>
    <kp value="10000000.0"/>
    <kd value="1.0"/>
  </gazebo>
  <gazebo reference="l_gripper_l_finger_tip_joint">
    <stopKd value="1.0"/>
    <stopKp value="10000000.0"/>
    <fudgeFactor value="1.0"/>
    <provideFeedback value="true"/>
  </gazebo>
  <gazebo reference="l_gripper_r_finger_tip_link">
    <turnGravityOff>true</turnGravityOff>
    <selfCollide>false</selfCollide>
    <sensor name="l_gripper_r_finger_tip_contact_sensor" type="contact">
      <update_rate>100.0</update_rate>
      <contact>
        <collision>l_gripper_r_finger_tip_link_geom</collision>
      </contact>
      <plugin filename="libgazebo_ros_bumper.so" name="l_gripper_r_finger_tip_gazebo_ros_bumper_controller">
        <alwaysOn>true</alwaysOn>
        <frameName>l_gripper_r_finger_tip_link</frameName>
        <updateRate>100.0</updateRate>
        <bumperTopicName>l_gripper_r_finger_tip_bumper</bumperTopicName>
      </plugin>
    </sensor>
    <mu1 value="500.0"/>
    <mu2 value="500.0"/>
    <kp value="10000000.0"/>
    <kd value="1.0"/>
  </gazebo>
  <gazebo>
    <plugin filename="libgazebo_ros_p3d.so" name="p3d_l_gripper_l_finger_controller">
      <alwaysOn>true</alwaysOn>
      <updateRate>100.0</updateRate>
      <bodyName>l_gripper_l_finger_link</bodyName>
      <topicName>l_gripper_l_finger_pose_ground_truth</topicName>
      <gaussianNoise>0.0</gaussianNoise>
      <frameName>base_link</frameName>
    </plugin>
    <plugin filename="libgazebo_ros_f3d.so" name="f3d_l_gripper_l_finger_controller">
      <alwaysOn>true</alwaysOn>
      <updateRate>100.0</updateRate>
      <bodyName>l_gripper_l_finger_link</bodyName>
      <topicName>l_gripper_l_finger_force_ground_truth</topicName>
      <frameName>l_gripper_l_finger_link</frameName>
    </plugin>
  </gazebo>
  <gazebo reference="l_gripper_r_finger_tip_joint">
    <stopKd value="1.0"/>
    <stopKp value="10000000.0"/>
    <fudgeFactor value="1.0"/>
    <provideFeedback value="true"/>
  </gazebo>
  <gazebo>
    <link name="l_gripper_l_parallel_link">
      <inertial>
        <mass>0.17126</mass>
        <inertia>
          <ixx>7.7562e-05</ixx>
          <ixy>1.49095e-06</ixy>
          <ixz>-9.83385e-06</ixz>
          <iyy>0.000197083</iyy>
          <iyz>-3.06125e-06</iyz>
          <izz>0.000181054</izz>
        </inertia>
        <pose>0.03598 0.0173 -0.00164 0 0 0</pose>
      </inertial>
      <pose>0.82991 0.219 0.790675 0 -0 0</pose>
      <gravity>false</gravity>
    </link>
    <link name="l_gripper_r_parallel_link">
      <inertial>
        <mass>0.17389</mass>
        <inertia>
          <ixx>7.73841e-05</ixx>
          <ixy>-2.09309e-06</ixy>
          <ixz>-8.36228e-06</ixz>
          <iyy>0.000198474</iyy>
          <iyz>2.4611e-06</iyz>
          <izz>0.00018107</izz>
        </inertia>
        <pose>0.03576 -0.01736 -0.00095 0 0 0</pose>
      </inertial>
      <pose>0.82991 0.157 0.790675 0 0 0</pose>
      <gravity>false</gravity>
    </link>
  </gazebo>
  <gazebo>
    <joint name="l_gripper_r_screw_screw_joint" type="screw">
      <child>l_gripper_motor_screw_link</child>
      <parent>l_gripper_r_finger_tip_link</parent>
      <thread_pitch>-3141.6</thread_pitch>
      <axis>
        <xyz>0 1 0</xyz>
      </axis>
    </joint>
    <joint name="l_gripper_l_screw_screw_joint" type="screw">
      <parent>l_gripper_l_finger_tip_link</parent>
      <child>l_gripper_motor_screw_link</child>
      <thread_pitch>3141.6</thread_pitch>
      <axis>
        <xyz>0 1 0</xyz>
      </axis>
    </joint>
  </gazebo>
  <gazebo>
    <joint name="l_gripper_r_parallel_root_joint" type="revolute">
      <parent>l_gripper_r_parallel_link</parent>
      <child>l_gripper_palm_link</child>
      <axis>
        <xyz>0 0 -1</xyz>
        <dynamics>
          <damping>0.2</damping>
        </dynamics>
      </axis>
      <pose>0.05891 -0.031 0 0 0 0</pose>
    </joint>
    <joint name="l_gripper_l_parallel_root_joint" type="revolute">
      <parent>l_gripper_l_parallel_link</parent>
      <child>l_gripper_palm_link</child>
      <axis>
        <xyz>0 0 1</xyz>
        <dynamics>
          <damping>0.2</damping>
        </dynamics>
      </axis>
      <pose>0.05891 0.031 0 0 0 0</pose>
    </joint>
    <joint name="l_gripper_r_parallel_tip_joint" type="revolute">
      <parent>l_gripper_r_parallel_link</parent>
      <child>l_gripper_r_finger_tip_link</child>
      <axis>
        <xyz>0 0 1</xyz>
      </axis>
      <pose>-0.018 -0.021 0 0 0 0</pose>
    </joint>
    <joint name="l_gripper_l_parallel_tip_joint" type="revolute">
      <parent>l_gripper_l_parallel_link</parent>
      <child>l_gripper_l_finger_tip_link</child>
      <axis>
        <xyz>0 0 1</xyz>
      </axis>
      <pose>-0.018 0.021 0 0 0 0</pose>
    </joint>
    <joint name="l_gripper_joint" type="prismatic">
      <parent>l_gripper_r_finger_tip_link</parent>
      <child>l_gripper_l_finger_tip_link</child>
      <axis>
        <xyz>0 1 0</xyz>
      </axis>
    </joint>
  </gazebo>
  <gazebo reference="l_gripper_motor_slider_link">
    <turnGravityOff>true</turnGravityOff>
    <material value="PR2/Red"/>
  </gazebo>
  <gazebo reference="l_gripper_motor_screw_link">
    <turnGravityOff>true</turnGravityOff>
    <material value="PR2/Red"/>
  </gazebo>
  <gazebo reference="l_gripper_l_parallel_link">
    <turnGravityOff>true</turnGravityOff>
    <material value="PR2/Red"/>
  </gazebo>
  <gazebo reference="l_gripper_r_parallel_link">
    <turnGravityOff>true</turnGravityOff>
    <material value="PR2/Red"/>
  </gazebo>
  <joint name="l_gripper_joint" type="prismatic">
    <parent link="l_gripper_r_finger_tip_link"/>
    <child link="l_gripper_l_finger_tip_frame"/>
    <axis xyz="0 1 0"/>
    <dynamics damping="10.0"/>
    <limit effort="1000.0" lower="0.0" upper="0.09" velocity="0.2"/>
    <safety_controller k_position="20.0" k_velocity="5000.0" soft_lower_limit="-0.01" soft_upper_limit="0.088"/>
  </joint>
  <link name="l_gripper_l_finger_tip_frame"/>
  <gazebo reference="l_gripper_palm_link">
    <turnGravityOff>true</turnGravityOff>
  </gazebo>
  <gazebo>
    <plugin filename="libgazebo_ros_p3d.so" name="p3d_l_gripper_palm_controller">
      <alwaysOn>true</alwaysOn>
      <updateRate>100.0</updateRate>
      <bodyName>l_gripper_palm_link</bodyName>
      <topicName>l_gripper_palm_pose_ground_truth</topicName>
      <xyzOffsets>0 0 0</xyzOffsets>
      <rpyOffsets>0 0 0</rpyOffsets>
      <gaussianNoise>0.0</gaussianNoise>
      <frameName>map</frameName>
    </plugin>
    <!-- a formal implementation of grasp hack in gazebo with fixed joint -->
    <gripper name="l_grasp_hack">
      <grasp_check attach_steps="20" detach_steps="40" min_contact_count="2"/>
      <gripper_link>l_gripper_r_finger_tip_link</gripper_link>
      <gripper_link>l_gripper_l_finger_tip_link</gripper_link>
      <palm_link>l_gripper_palm_link</palm_link>
    </gripper>
  </gazebo>
  <transmission name="l_gripper_trans" type="pr2_mechanism_model/PR2GripperTransmission">
    <actuator name="l_gripper_motor"/>
    <gap_joint L0="0.0375528" a="0.0683698" b="0.0433849" gear_ratio="40.095" h="0.0" mechanical_reduction="1.0" name="l_gripper_joint" phi0="0.518518122146" r="0.0915" screw_reduction="0.004" t0="-0.0001914" theta0="0.0628824676201"/>
    <!-- if a gazebo joint exists as [l|r]_gripper_joint, use this tag to have
           gripper transmission apply torque directly to prismatic joint
           this should be the default behavior in diamondback, deprecating this flag -->
    <use_simulated_gripper_joint/>
    <!-- set passive joint angles so things look nice in rviz -->
    <passive_joint name="l_gripper_l_finger_joint"/>
    <passive_joint name="l_gripper_r_finger_joint"/>
    <passive_joint name="l_gripper_r_finger_tip_joint"/>
    <passive_joint name="l_gripper_l_finger_tip_joint"/>
    <!-- screw joint to capture gripper "dynamics" -->
    <simulated_actuated_joint name="l_gripper_motor_screw_joint" passive_actuated_joint="l_gripper_motor_slider_joint" simulated_reduction="3141.6"/>
  </transmission>
  <!-- Forearm cam Position is a guess, based on full robot calibration -->
  <!-- Forearm cam Orientation is from Function -->
  <joint name="l_forearm_cam_frame_joint" type="fixed">
    <origin rpy="-1.57079632679 -0.562868683768 0" xyz=".135 0 .044"/>
    <parent link="l_forearm_roll_link"/>
    <child link="l_forearm_cam_frame"/>
  </joint>
  <link name="l_forearm_cam_frame">
    <inertial>
      <mass value="0.01"/>
      <origin xyz="0 0 0"/>
      <inertia ixx="0.001" ixy="0.0" ixz="0.0" iyy="0.001" iyz="0.0" izz="0.001"/>
    </inertial>
  </link>
  <joint name="l_forearm_cam_optical_frame_joint" type="fixed">
    <origin rpy="-1.57079632679 0.0 -1.57079632679" xyz="0 0 0"/>
    <parent link="l_forearm_cam_frame"/>
    <child link="l_forearm_cam_optical_frame"/>
  </joint>
  <link name="l_forearm_cam_optical_frame"/>
  <gazebo reference="l_forearm_cam_frame">
    <sensor name="l_forearm_cam_sensor" type="depth">
      <always_on>true</always_on>
      <update_rate>25.0</update_rate>
      <camera>
        <horizontal_fov>1.57079632679</horizontal_fov>
        <image>
          <format>R8G8B8</format>
          <width>640</width>
          <height>480</height>
        </image>
        <clip>
          <near>0.1</near>
          <far>100</far>
        </clip>
      </camera>
      <plugin filename="libgazebo_ros_depth_camera.so" name="l_forearm_cam_controller">
        <alwaysOn>true</alwaysOn>
        <updateRate>25.0</updateRate>
        <cameraName>l_forearm_cam</cameraName>
        <imageTopicName>image_raw</imageTopicName>
        <cameraInfoTopicName>camera_info</cameraInfoTopicName>
        <frameName>l_forearm_cam_optical_frame</frameName>
        <hackBaseline>0</hackBaseline>
        <CxPrime>320.5</CxPrime>
        <Cx>320.5</Cx>
        <Cy>240.5</Cy>
        <!-- image_width / (2*tan(hfov_radian /2)) -->
        <!-- 320 for wide and 772.55 for narrow stereo camera -->
        <focalLength>320</focalLength>
        <distortionK1>0.0</distortionK1>
        <distortionK2>0.0</distortionK2>
        <distortionK3>0.0</distortionK3>
        <distortionT1>0.0</distortionT1>
        <distortionT2>0.0</distortionT2>
      </plugin>
    </sensor>
    <turnGravityOff>true</turnGravityOff>
    <material>PR2/Blue</material>
  </gazebo>
  <joint name="r_forearm_cam_frame_joint" type="fixed">
    <origin rpy="1.57079632679 -0.562868683768 0" xyz=".135 0 .044"/>
    <parent link="r_forearm_roll_link"/>
    <child link="r_forearm_cam_frame"/>
  </joint>
  <link name="r_forearm_cam_frame">
    <inertial>
      <mass value="0.01"/>
      <origin xyz="0 0 0"/>
      <inertia ixx="0.001" ixy="0.0" ixz="0.0" iyy="0.001" iyz="0.0" izz="0.001"/>
    </inertial>
  </link>
  <joint name="r_forearm_cam_optical_frame_joint" type="fixed">
    <origin rpy="-1.57079632679 0.0 -1.57079632679" xyz="0 0 0"/>
    <parent link="r_forearm_cam_frame"/>
    <child link="r_forearm_cam_optical_frame"/>
  </joint>
  <link name="r_forearm_cam_optical_frame"/>
  <gazebo reference="r_forearm_cam_frame">
    <sensor name="r_forearm_cam_sensor" type="depth">
      <always_on>true</always_on>
      <update_rate>25.0</update_rate>
      <camera>
        <horizontal_fov>1.57079632679</horizontal_fov>
        <image>
          <format>R8G8B8</format>
          <width>640</width>
          <height>480</height>
        </image>
        <clip>
          <near>0.1</near>
          <far>100</far>
        </clip>
      </camera>
      <plugin filename="libgazebo_ros_depth_camera.so" name="r_forearm_cam_controller">
        <alwaysOn>true</alwaysOn>
        <updateRate>25.0</updateRate>
        <cameraName>r_forearm_cam</cameraName>
        <imageTopicName>image_raw</imageTopicName>
        <cameraInfoTopicName>camera_info</cameraInfoTopicName>
        <frameName>r_forearm_cam_optical_frame</frameName>
        <hackBaseline>0</hackBaseline>
        <CxPrime>320.5</CxPrime>
        <Cx>320.5</Cx>
        <Cy>240.5</Cy>
        <!-- image_width / (2*tan(hfov_radian /2)) -->
        <!-- 320 for wide and 772.55 for narrow stereo camera -->
        <focalLength>320</focalLength>
        <distortionK1>0.0</distortionK1>
        <distortionK2>0.0</distortionK2>
        <distortionK3>0.0</distortionK3>
        <distortionT1>0.0</distortionT1>
        <distortionT2>0.0</distortionT2>
      </plugin>
    </sensor>
    <turnGravityOff>true</turnGravityOff>
    <material>PR2/Blue</material>
  </gazebo>
</robot>
